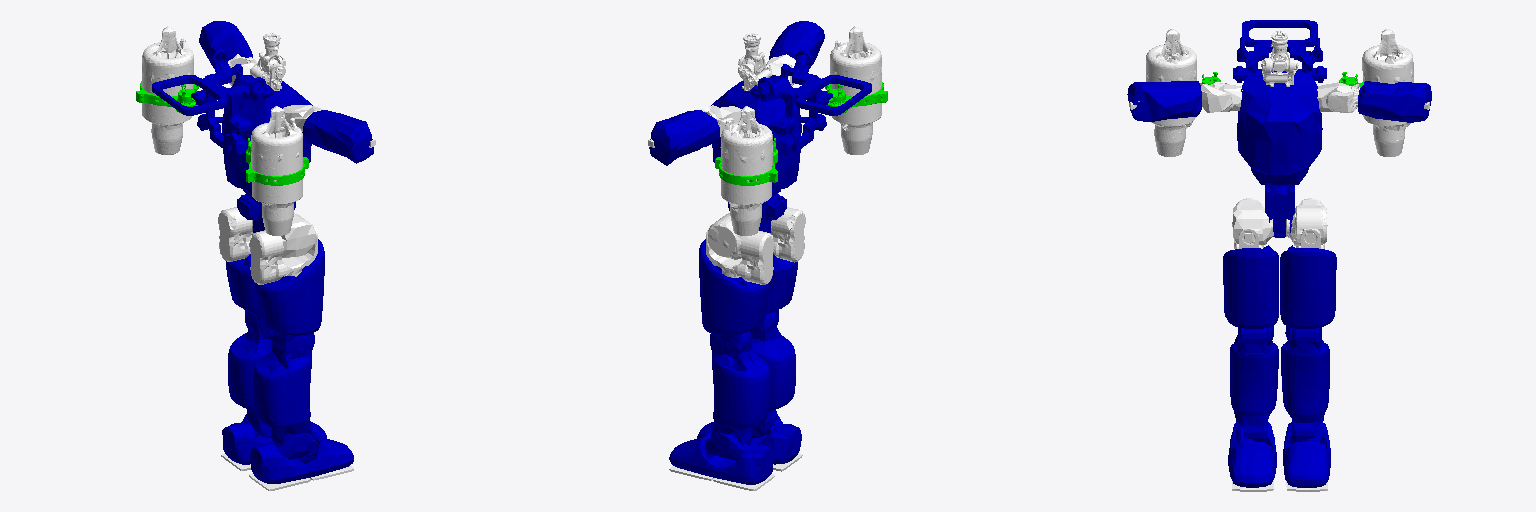
--- Render facts (derived) ---
3 views of the same robot in one strip: view 1: azimuth 30°, elevation 25°; view 2: azimuth 150°, elevation 25°; view 3: azimuth 270°, elevation 25° (orthographic).
Model iCub with 64 links and 63 joints (26 revolute, 37 fixed), rooted at root_link, posed all joints at 0 but 2 set to mid-range because 0 is outside their limits (l_shoulder_roll = 1.53, r_shoulder_roll = 1.53).
Visible links, largest first — view 1: r_lower_leg, chest_r_jet_turbine, chest_jetpack, r_hip_3, chest_l_jet_turbine, r_ankle_2, l_lower_leg, chest, r_upper_arm, r_hip_2, l_hip_2, l_upper_arm (+8 smaller); view 2: l_lower_leg, chest_l_jet_turbine, chest_jetpack, l_hip_3, chest_r_jet_turbine, l_ankle_2, r_lower_leg, chest, l_upper_arm, l_hip_2, r_hip_2, r_upper_arm (+7 smaller); view 3: chest, r_lower_leg, l_lower_leg, l_hip_3, r_hip_3, chest_l_jet_turbine, chest_r_jet_turbine, chest_jetpack, r_upper_arm, l_upper_arm, l_ankle_2, r_ankle_2 (+7 smaller).
Link boxes in pixels (bbox=[...]): r_lower_leg: bbox=[253, 331, 312, 445]; chest_r_jet_turbine: bbox=[251, 106, 302, 235]; chest_jetpack: bbox=[152, 49, 273, 154]; r_hip_3: bbox=[254, 239, 324, 335]; chest_l_jet_turbine: bbox=[142, 26, 193, 154]; r_ankle_2: bbox=[250, 431, 353, 483]; l_lower_leg: bbox=[228, 311, 271, 437]; chest: bbox=[222, 75, 312, 188]; r_upper_arm: bbox=[302, 110, 373, 163]; r_hip_2: bbox=[249, 224, 317, 284]; l_hip_2: bbox=[218, 207, 252, 261]; l_upper_arm: bbox=[199, 21, 252, 68]; l_lower_leg: bbox=[711, 331, 770, 445]; chest_l_jet_turbine: bbox=[720, 106, 772, 235]; chest_jetpack: bbox=[750, 49, 871, 154]; l_hip_3: bbox=[699, 239, 769, 335]; chest_r_jet_turbine: bbox=[830, 26, 881, 154]; l_ankle_2: bbox=[669, 432, 773, 484]; r_lower_leg: bbox=[752, 311, 795, 437]; chest: bbox=[711, 75, 801, 188]; l_upper_arm: bbox=[649, 110, 719, 165]; l_hip_2: bbox=[706, 225, 774, 284]; r_hip_2: bbox=[771, 207, 805, 262]; r_upper_arm: bbox=[769, 21, 824, 68]; chest: bbox=[1237, 69, 1322, 174]; r_lower_leg: bbox=[1230, 327, 1278, 443]; l_lower_leg: bbox=[1281, 327, 1329, 443]; l_hip_3: bbox=[1280, 245, 1336, 328]; r_hip_3: bbox=[1223, 245, 1278, 328]; chest_l_jet_turbine: bbox=[1362, 29, 1413, 156]; chest_r_jet_turbine: bbox=[1146, 29, 1196, 156]; chest_jetpack: bbox=[1233, 20, 1326, 82]; r_upper_arm: bbox=[1127, 81, 1201, 121]; l_upper_arm: bbox=[1358, 81, 1431, 122]; l_ankle_2: bbox=[1283, 422, 1330, 487]; r_ankle_2: bbox=[1228, 422, 1276, 487].
Size in the robot's own frame: 0.4587 by 0.727 by 1.13 metres.
40 mesh visuals loaded from 43 distinct referenced files (40 ASCII STL); not drawn: 3 (reference not matched to a file when rendering), 4 (reference in a form the renderer does not follow; not among the files counted above).

The robot description file, URDF, robot "iCub":
<robot name="iCub">
  <link name="root_link">
    <inertial>
      <origin xyz="0.0035506 -0.00014959200000000001 0.024519000000000013" rpy="0 0 -1.5707963267948966"/>
      <mass value="2.5751"/>
      <inertia ixx="0.004051489764137304" ixy="-2.0525354991945143e-06" ixz="-1.200186769383287e-05" iyy="0.004466379288694287" iyz="0.00011702292411912923" izz="0.002537512875376926"/>
    </inertial>
    <visual>
      <origin xyz="0 0 0.313858" rpy="0 0 -1.5707963267948966"/>
      <geometry>
        <mesh filename="package://iRonCub-Mk3/iRonCub/meshes/stl/sim_icub3_root_link_prt.stl" scale="0.001 0.001 0.001"/>
      </geometry>
      <material name="green">
        <color rgba="0 0 0.8 1"/>
      </material>
    </visual>
    <collision>
      <origin xyz="0 0 0.313858" rpy="0 0 -1.5707963267948966"/>
      <geometry>
        <mesh filename="package://iRonCub-Mk3/iRonCub/meshes/stl/sim_icub3_root_link_prt.stl" scale="0.001 0.001 0.001"/>
      </geometry>
    </collision>
  </link>
  <link name="l_hip_1">
    <inertial>
      <origin xyz="-0.004074100000000001 0.028123299999999997 -0.0007250000000000312" rpy="0 0 -1.5707963267948966"/>
      <mass value="2.1611"/>
      <inertia ixx="0.002595352643142238" ixy="-6.263538591577025e-05" ixz="2.7731363927618977e-06" iyy="0.0021193350821535318" iyz="-1.2725390435109447e-05" izz="0.0023619854835245473"/>
    </inertial>
    <visual>
      <origin xyz="-0.021600000000000064 -0.04044999999999981 0.31385800000000025" rpy="0 0 -1.5707963267948966"/>
      <geometry>
        <mesh filename="package://iRonCub-Mk3/iRonCub/meshes/stl/sim_icub3_l_hip_1_prt.stl" scale="0.001 0.001 0.001"/>
      </geometry>
      <material name="black">
        <color rgba="1 1 1 1"/>
      </material>
    </visual>
    <collision>
      <origin xyz="-0.021600000000000064 -0.04044999999999981 0.31385800000000025" rpy="0 0 -1.5707963267948966"/>
      <geometry>
        <mesh filename="package://iRonCub-Mk3/iRonCub/meshes/stl/sim_icub3_l_hip_1_prt.stl" scale="0.001 0.001 0.001"/>
      </geometry>
    </collision>
  </link>
  <joint name="l_hip_pitch" type="revolute">
    <origin xyz="0.0216 0.04045000000000001 0" rpy="0 0 0"/>
    <axis xyz="0.0 -1.0 0.0"/>
    <parent link="root_link"/>
    <child link="l_hip_1"/>
    <limit effort="50000" lower="-0.7853981633974483" upper="2.007128639793479" velocity="120.0"/>
    <dynamics damping="2.0" friction="0.0"/>
  </joint>
  <link name="l_hip_2">
    <inertial>
      <origin xyz="-0.003963800000000003 5.489999999999662e-05 -0.037538000000000016" rpy="0 0 -1.5707963267948966"/>
      <mass value="1.7731"/>
      <inertia ixx="0.005228411714595798" ixy="-4.083551966339624e-06" ixz="3.1651054869901453e-06" iyy="0.0029657585348029296" iyz="0.0009461829267401466" izz="0.0032766682222500967"/>
    </inertial>
    <visual>
      <origin xyz="0.025649999999999822 -0.07354999999999978 0.3228580000000002" rpy="0 0 -1.5707963267948966"/>
      <geometry>
        <mesh filename="package://iRonCub-Mk3/iRonCub/meshes/stl/sim_icub3_l_hip_2_prt.stl" scale="0.001 0.001 0.001"/>
      </geometry>
      <material name="red">
        <color rgba="1 1 1 1"/>
      </material>
    </visual>
    <collision>
      <origin xyz="0.025649999999999822 -0.07354999999999978 0.3228580000000002" rpy="0 0 -1.5707963267948966"/>
      <geometry>
        <mesh filename="package://iRonCub-Mk3/iRonCub/meshes/stl/sim_icub3_l_hip_2_prt.stl" scale="0.001 0.001 0.001"/>
      </geometry>
    </collision>
  </link>
  <joint name="l_hip_roll" type="revolute">
    <origin xyz="-0.04725 0.0331 -0.009000000000000008" rpy="0 0 0"/>
    <axis xyz="1.0 0.0 0.0"/>
    <parent link="l_hip_1"/>
    <child link="l_hip_2"/>
    <limit effort="50000" lower="-0.17453292519943295" upper="1.9547687622336491" velocity="120.0"/>
    <dynamics damping="2.0" friction="0.0"/>
  </joint>
  <link name="l_hip_3">
    <inertial>
      <origin xyz="0.0024416999999999998 -0.012306900000000003 -0.03819900000000004" rpy="0 0 -1.5707963267948966"/>
      <mass value="2.43975"/>
      <inertia ixx="0.0044412883972056874" ixy="3.3190647191151945e-06" ixz="-0.0001500433647365573" iyy="0.004161531735667295" iyz="1.0495343014441162e-05" izz="0.004168493190874654"/>
    </inertial>
    <visual>
      <origin xyz="-0.011050000000000178 -0.07354999999999977 0.41255800000000004" rpy="0 0 -1.5707963267948966"/>
      <geometry>
        <mesh filename="package://iRonCub-Mk3/iRonCub/meshes/stl/sim_icub3_l_hip_3_prt.stl" scale="0.001 0.001 0.001"/>
      </geometry>
      <material name="blue">
        <color rgba="0 0 0.8 1"/>
      </material>
    </visual>
    <collision>
      <origin xyz="-0.011050000000000178 -0.07354999999999977 0.41255800000000004" rpy="0 0 -1.5707963267948966"/>
      <geometry>
        <mesh filename="package://iRonCub-Mk3/iRonCub/meshes/stl/sim_icub3_l_hip_3_prt.stl" scale="0.001 0.001 0.001"/>
      </geometry>
    </collision>
  </link>
  <joint name="l_leg_ft_sensor" type="fixed">
    <origin xyz="0.036699999999999997 0 -0.08969999999999995" rpy="0 0 0"/>
    <parent link="l_hip_2"/>
    <child link="l_hip_3"/>
    <dynamics damping="0.1"/>
  </joint>
  <link name="l_upper_leg">
    <inertial>
      <origin xyz="0.005238099999999999 0.001499300000000009 -0.0518519999999999" rpy="0 0 -1.5707963267948966"/>
      <mass value="0.90926"/>
      <inertia ixx="0.0018580448030305287" ixy="2.4769869343548534e-05" ixz="-9.921040799831542e-05" iyy="0.0023253336863419895" iyz="0.00021961146368491691" izz="0.0010116953240355718"/>
    </inertial>
    <visual>
      <origin xyz="-0.011050000000000167 -0.05854999999999983 0.48345800000000017" rpy="0 0 -1.5707963267948966"/>
      <geometry>
        <mesh filename="package://iRonCub-Mk3/iRonCub/meshes/stl/sim_icub3_l_upper_leg_prt.stl" scale="0.001 0.001 0.001"/>
      </geometry>
      <material name="yellow">
        <color rgba="0 0 0.8 1"/>
      </material>
    </visual>
    <collision>
      <origin xyz="-0.011050000000000167 -0.05854999999999983 0.48345800000000017" rpy="0 0 -1.5707963267948966"/>
      <geometry>
        <mesh filename="package://iRonCub-Mk3/iRonCub/meshes/stl/sim_icub3_l_upper_leg_prt.stl" scale="0.001 0.001 0.001"/>
      </geometry>
    </collision>
  </link>
  <joint name="l_hip_yaw" type="revolute">
    <origin xyz="0 -0.015000000000000006 -0.07090000000000007" rpy="0 0 0"/>
    <axis xyz="0.0 0.0 1.0"/>
    <parent link="l_hip_3"/>
    <child link="l_upper_leg"/>
    <limit effort="50000" lower="-1.3962634015954636" upper="1.3962634015954636" velocity="120.0"/>
    <dynamics damping="2.0" friction="0.0"/>
  </joint>
  <link name="l_lower_leg">
    <inertial>
      <origin xyz="-0.0132211 -0.022063200000000005 -0.12639599999999995" rpy="0 0 -1.5707963267948966"/>
      <mass value="5.3241"/>
      <inertia ixx="0.05824701558729114" ixy="0.00010624602688798144" ixz="0.00032177799357201414" iyy="0.055706072617469723" iyz="-0.00018962183345080946" izz="0.006070627555679843"/>
    </inertial>
    <visual>
      <origin xyz="-0.026050000000000243 -0.08344999999999969 0.5896580000000001" rpy="0 0 -1.5707963267948966"/>
      <geometry>
        <mesh filename="package://iRonCub-Mk3/iRonCub/meshes/stl/sim_icub3_l_lower_leg_prt.stl" scale="0.001 0.001 0.001"/>
      </geometry>
      <material name="pink">
        <color rgba="0 0 0.8 1"/>
      </material>
    </visual>
    <collision>
      <origin xyz="-0.026050000000000243 -0.08344999999999969 0.5896580000000001" rpy="0 0 -1.5707963267948966"/>
      <geometry>
        <mesh filename="package://iRonCub-Mk3/iRonCub/meshes/stl/sim_icub3_l_lower_leg_prt.stl" scale="0.001 0.001 0.001"/>
      </geometry>
    </collision>
  </link>
  <joint name="l_knee" type="revolute">
    <origin xyz="0.015 0.024900000000000012 -0.10619999999999996" rpy="0 0 0"/>
    <axis xyz="0.0 -1.0 0.0"/>
    <parent link="l_upper_leg"/>
    <child link="l_lower_leg"/>
    <limit effort="50000" lower="-1.2217304763960306" upper="0.08726646259971647" velocity="120.0"/>
    <dynamics damping="2.0" friction="0.0"/>
  </joint>
  <link name="l_ankle_1">
    <inertial>
      <origin xyz="-0.0056708999999999996 -0.0004776000000000086 -0.015197000000000016" rpy="0 0 -1.5707963267948966"/>
      <mass value="0.36569"/>
      <inertia ixx="0.0006919069701304677" ixy="3.642221266176245e-05" ixz="6.0306968718434186e-05" iyy="0.00029801214087017225" iyz="-2.6804257582408287e-05" izz="0.0005496547611177806"/>
    </inertial>
    <visual>
      <origin xyz="-0.026050000000000052 -0.08295000000000005 0.8456470000000003" rpy="0 0 -1.5707963267948966"/>
      <geometry>
        <mesh filename="package://iRonCub-Mk3/iRonCub/meshes/stl/sim_icub3_l_ankle_1_prt.stl" scale="0.001 0.001 0.001"/>
      </geometry>
      <material name="cyan">
        <color rgba="0 0 0.8 1"/>
      </material>
    </visual>
    <collision>
      <origin xyz="-0.026050000000000052 -0.08295000000000005 0.8456470000000003" rpy="0 0 -1.5707963267948966"/>
      <geometry>
        <mesh filename="package://iRonCub-Mk3/iRonCub/meshes/stl/sim_icub3_l_ankle_1_prt.stl" scale="0.001 0.001 0.001"/>
      </geometry>
    </collision>
  </link>
  <joint name="l_ankle_pitch" type="revolute">
    <origin xyz="0 -0.0005000000000000004 -0.255989" rpy="0 0 0"/>
    <axis xyz="0.0 1.0 0.0"/>
    <parent link="l_lower_leg"/>
    <child link="l_ankle_1"/>
    <limit effort="50000" lower="-0.7853981633974483" upper="0.7853981633974483" velocity="120.0"/>
    <dynamics damping="2.0" friction="0.0"/>
  </joint>
  <link name="l_ankle_2">
    <inertial>
      <origin xyz="0.0417048 -5.500000000001337e-05 -0.02565099999999998" rpy="0 0 -1.5707963267948966"/>
      <mass value="1.53465"/>
      <inertia ixx="0.008276628548706496" ixy="5.786254688421673e-06" ixz="-4.092109028187411e-06" iyy="0.0017004608262408357" iyz="0.0012330199976826493" izz="0.008063087568467178"/>
    </inertial>
    <visual>
      <origin xyz="0.026699999999999342 -0.0647500000000001 0.8806470000000008" rpy="0 0 -1.5707963267948966"/>
      <geometry>
        <mesh filename="package://iRonCub-Mk3/iRonCub/meshes/stl/sim_icub3_l_ankle_2_prt.stl" scale="0.001 0.001 0.001"/>
      </geometry>
      <material name="green">
        <color rgba="0 0 0.8 1"/>
      </material>
    </visual>
    <collision>
      <origin xyz="0.026699999999999342 -0.0647500000000001 0.8806470000000008" rpy="0 0 -1.5707963267948966"/>
      <geometry>
        <mesh filename="package://iRonCub-Mk3/iRonCub/meshes/stl/sim_icub3_l_ankle_2_prt.stl" scale="0.001 0.001 0.001"/>
      </geometry>
    </collision>
  </link>
  <joint name="l_ankle_roll" type="revolute">
    <origin xyz="-0.052750000000000005 -0.018200000000000008 -0.03500000000000003" rpy="0 0 0"/>
    <axis xyz="1.0 0.0 0.0"/>
    <parent link="l_ankle_1"/>
    <child link="l_ankle_2"/>
    <limit effort="50000" lower="-0.4363323129985824" upper="0.4363323129985824" velocity="120.0"/>
    <dynamics damping="2.0" friction="0.0"/>
  </joint>
  <link name="l_foot_rear">
    <inertial>
      <origin xyz="0.0005056000000000001 3.350000000000575e-05 0.003658999999999968" rpy="0 0 -1.5707963267948966"/>
      <mass value="0.17851"/>
      <inertia ixx="0.00028386984946481193" ixy="-3.8140209422126887e-07" ixz="3.3779281136245455e-06" iyy="0.00022675202580603227" iyz="8.141588837428499e-06" izz="0.00036516477016163983"/>
    </inertial>
    <visual>
      <origin xyz="0.010699999999999342 -0.06475000000000009 0.9464470000000004" rpy="0 0 -1.5707963267948966"/>
      <geometry>
        <mesh filename="package://iRonCub-Mk3/iRonCub/meshes/stl/sim_icub3_l_foot_rear_prt.stl" scale="0.001 0.001 0.001"/>
      </geometry>
      <material name="l_foot_rear_color">
        <color rgba="1.0 1.0 1.0 1.0"/>
      </material>
    </visual>
    <collision>
      <origin xyz="0.010699999999999342 -0.06475000000000009 0.9464470000000004" rpy="0 0 -1.5707963267948966"/>
      <geometry>
        <mesh filename="package://iRonCub-Mk3/iRonCub/meshes/stl/sim_icub3_l_foot_rear_prt.stl" scale="0.001 0.001 0.001"/>
      </geometry>
    </collision>
  </link>
  <joint name="l_foot_rear_ft_sensor" type="fixed">
    <origin xyz="0.016 0 -0.06579999999999997" rpy="0 0 0"/>
    <parent link="l_ankle_2"/>
    <child link="l_foot_rear"/>
    <dynamics damping="0.1"/>
  </joint>
  <link name="l_sole"/>
  <joint name="l_sole_fixed_joint" type="fixed">
    <origin xyz="0.05963 0 0" rpy="0 0 0"/>
    <parent link="l_foot_rear"/>
    <child link="l_sole"/>
    <dynamics damping="0.1"/>
  </joint>
  <link name="l_sole_3"/>
  <joint name="l_sole_3_fixed_joint" type="fixed">
    <origin xyz="-0.035 -0.02475 0" rpy="0 0 0"/>
    <parent link="l_foot_rear"/>
    <child link="l_sole_3"/>
    <dynamics damping="0.1"/>
  </joint>
  <link name="l_sole_4"/>
  <joint name="l_sole_4_fixed_joint" type="fixed">
    <origin xyz="-0.035 0.03025 0" rpy="0 0 0"/>
    <parent link="l_foot_rear"/>
    <child link="l_sole_4"/>
    <dynamics damping="0.1"/>
  </joint>
  <link name="l_foot_front">
    <inertial>
      <origin xyz="7.700000000000762e-05 -3.990000000000937e-05 0.004256999999999955" rpy="0 0 -1.5707963267948966"/>
      <mass value="0.17896"/>
      <inertia ixx="0.00032486721722121964" ixy="3.5467003209527003e-07" ixz="2.7144049104682455e-07" iyy="0.00025600096782908466" iyz="3.4960507170104935e-05" izz="0.00037767895393194076"/>
    </inertial>
    <visual>
      <origin xyz="-0.10855000000000063 -0.06475000000000009 0.9464470000000004" rpy="0 0 -1.5707963267948966"/>
      <geometry>
        <mesh filename="package://iRonCub-Mk3/iRonCub/meshes/stl/sim_icub3_l_foot_front_prt.stl" scale="0.001 0.001 0.001"/>
      </geometry>
      <material name="l_foot_front_color">
        <color rgba="1.0 1.0 1.0 1.0"/>
      </material>
    </visual>
    <collision>
      <origin xyz="-0.10855000000000063 -0.06475000000000009 0.9464470000000004" rpy="0 0 -1.5707963267948966"/>
      <geometry>
        <mesh filename="package://iRonCub-Mk3/iRonCub/meshes/stl/sim_icub3_l_foot_front_prt.stl" scale="0.001 0.001 0.001"/>
      </geometry>
    </collision>
  </link>
  <joint name="l_foot_front_ft_sensor" type="fixed">
    <origin xyz="0.13524999999999998 0 -0.06579999999999997" rpy="0 0 0"/>
    <parent link="l_ankle_2"/>
    <child link="l_foot_front"/>
    <dynamics damping="0.1"/>
  </joint>
  <link name="l_sole_1"/>
  <joint name="l_sole_1_fixed_joint" type="fixed">
    <origin xyz="0.02500000000000001 0.025249999999999995 0" rpy="0 0 0"/>
    <parent link="l_foot_front"/>
    <child link="l_sole_1"/>
    <dynamics damping="0.1"/>
  </joint>
  <link name="l_sole_2"/>
  <joint name="l_sole_2_fixed_joint" type="fixed">
    <origin xyz="0.02500000000000001 -0.02475 0" rpy="0 0 0"/>
    <parent link="l_foot_front"/>
    <child link="l_sole_2"/>
    <dynamics damping="0.1"/>
  </joint>
  <link name="r_hip_1">
    <inertial>
      <origin xyz="-0.004106499999999999 -0.02810980000000001 -0.0008360000000000034" rpy="0 0 -1.5707963267948966"/>
      <mass value="2.1623"/>
      <inertia ixx="0.002675989970439473" ixy="6.426984653122192e-05" ixz="-6.447456052305588e-06" iyy="0.0021990073364667796" iyz="-1.5695577440979572e-05" izz="0.002366627191660443"/>
    </inertial>
    <visual>
      <origin xyz="-0.0216 0.04054999999999986 0.313858" rpy="0 0 -1.5707963267948966"/>
      <geometry>
        <mesh filename="package://iRonCub-Mk3/iRonCub/meshes/stl/sim_icub3_r_hip_1_prt.stl" scale="0.001 0.001 0.001"/>
      </geometry>
      <material name="white">
        <color rgba="1 1 1 1"/>
      </material>
    </visual>
    <collision>
      <origin xyz="-0.0216 0.04054999999999986 0.313858" rpy="0 0 -1.5707963267948966"/>
      <geometry>
        <mesh filename="package://iRonCub-Mk3/iRonCub/meshes/stl/sim_icub3_r_hip_1_prt.stl" scale="0.001 0.001 0.001"/>
      </geometry>
    </collision>
  </link>
  <joint name="r_hip_pitch" type="revolute">
    <origin xyz="0.0216 -0.040549999999999996 0" rpy="0 0 0"/>
    <axis xyz="0.0 -1.0 0.0"/>
    <parent link="root_link"/>
    <child link="r_hip_1"/>
    <limit effort="50000" lower="-0.7853981633974483" upper="2.007128639793479" velocity="120.0"/>
    <dynamics damping="2.0" friction="0.0"/>
  </joint>
  <link name="r_hip_2">
    <inertial>
      <origin xyz="-0.003963499999999998 -7.010000000000349e-05 -0.03753499999999993" rpy="0 0 -1.5707963267948966"/>
      <mass value="1.7731"/>
      <inertia ixx="0.005229204654206729" ixy="4.628243459077994e-06" ixz="-3.2636330686460046e-06" iyy="0.0029659325947175245" iyz="0.0009467254134739666" izz="0.00327641680237346"/>
    </inertial>
    <visual>
      <origin xyz="0.025699999999999973 0.07364999999999984 0.3228580000000001" rpy="0 0 -1.5707963267948966"/>
      <geometry>
        <mesh filename="package://iRonCub-Mk3/iRonCub/meshes/stl/sim_icub3_r_hip_2_prt.stl" scale="0.001 0.001 0.001"/>
      </geometry>
      <material name="dblue">
        <color rgba="1 1 1 1"/>
      </material>
    </visual>
    <collision>
      <origin xyz="0.025699999999999973 0.07364999999999984 0.3228580000000001" rpy="0 0 -1.5707963267948966"/>
      <geometry>
        <mesh filename="package://iRonCub-Mk3/iRonCub/meshes/stl/sim_icub3_r_hip_2_prt.stl" scale="0.001 0.001 0.001"/>
      </geometry>
    </collision>
  </link>
  <joint name="r_hip_roll" type="revolute">
    <origin xyz="-0.0473 -0.03310000000000001 -0.009000000000000008" rpy="0 0 0"/>
    <axis xyz="-1.0 0.0 0.0"/>
    <parent link="r_hip_1"/>
    <child link="r_hip_2"/>
    <limit effort="50000" lower="-0.17453292519943295" upper="1.9547687622336491" velocity="120.0"/>
    <dynamics damping="2.0" friction="0.0"/>
  </joint>
  <link name="r_hip_3">
    <inertial>
      <origin xyz="0.0024329000000000017 0.01233370000000001 -0.038242000000000054" rpy="0 0 -1.5707963267948966"/>
      <mass value="2.43975"/>
      <inertia ixx="0.004485784047483899" ixy="-2.3350782161357655e-06" ixz="0.0001440226606671166" iyy="0.00420681558758196" iyz="1.1762844743205253e-05" izz="0.0041711798557694454"/>
    </inertial>
    <visual>
      <origin xyz="-0.011000000000000029 0.07364999999999984 0.41255800000000004" rpy="0 0 -1.5707963267948966"/>
      <geometry>
        <mesh filename="package://iRonCub-Mk3/iRonCub/meshes/stl/sim_icub3_r_hip_3_prt.stl" scale="0.001 0.001 0.001"/>
      </geometry>
      <material name="dgreen">
        <color rgba="0 0 0.8 1"/>
      </material>
    </visual>
    <collision>
      <origin xyz="-0.011000000000000029 0.07364999999999984 0.41255800000000004" rpy="0 0 -1.5707963267948966"/>
      <geometry>
        <mesh filename="package://iRonCub-Mk3/iRonCub/meshes/stl/sim_icub3_r_hip_3_prt.stl" scale="0.001 0.001 0.001"/>
      </geometry>
    </collision>
  </link>
  <joint name="r_leg_ft_sensor" type="fixed">
    <origin xyz="0.036699999999999997 0 -0.08969999999999995" rpy="0 0 0"/>
    <parent link="r_hip_2"/>
    <child link="r_hip_3"/>
    <dynamics damping="0.1"/>
  </joint>
  <link name="r_upper_leg">
    <inertial>
      <origin xyz="0.005240300000000003 -0.0014998000000000025 -0.05185799999999996" rpy="0 0 -1.5707963267948966"/>
      <mass value="0.90926"/>
      <inertia ixx="0.0018609457769770859" ixy="-2.472258346821965e-05" ixz="9.915722347596187e-05" iyy="0.0023282830098543227" iyz="0.00022002726995059012" izz="0.001011608294817175"/>
    </inertial>
    <visual>
      <origin xyz="-0.011000000000000012 0.05864999999999984 0.48345800000000005" rpy="0 0 -1.5707963267948966"/>
      <geometry>
        <mesh filename="package://iRonCub-Mk3/iRonCub/meshes/stl/sim_icub3_r_upper_leg_prt.stl" scale="0.001 0.001 0.001"/>
      </geometry>
      <material name="gray">
        <color rgba="0 0 0.8 1"/>
      </material>
    </visual>
    <collision>
      <origin xyz="-0.011000000000000012 0.05864999999999984 0.48345800000000005" rpy="0 0 -1.5707963267948966"/>
      <geometry>
        <mesh filename="package://iRonCub-Mk3/iRonCub/meshes/stl/sim_icub3_r_upper_leg_prt.stl" scale="0.001 0.001 0.001"/>
      </geometry>
    </collision>
  </link>
  <joint name="r_hip_yaw" type="revolute">
    <origin xyz="0 0.015000000000000006 -0.07090000000000007" rpy="0 0 0"/>
    <axis xyz="0.0 0.0 -1.0"/>
    <parent link="r_hip_3"/>
    <child link="r_upper_leg"/>
    <limit effort="50000" lower="-1.3962634015954636" upper="1.3962634015954636" velocity="120.0"/>
    <dynamics damping="2.0" friction="0.0"/>
  </joint>
  <link name="r_lower_leg">
    <inertial>
      <origin xyz="-0.013102400000000002 0.021986699999999998 -0.127262" rpy="0 0 -1.5707963267948966"/>
      <mass value="5.3241"/>
      <inertia ixx="0.058569724854460666" ixy="-0.00011067195586576853" ixz="-0.0002647293063069585" iyy="0.05601996956627755" iyz="-0.00013332765738821662" izz="0.006068235025831327"/>
    </inertial>
    <visual>
      <origin xyz="-0.026000000000000037 0.0835499999999998 0.589658" rpy="0 0 -1.5707963267948966"/>
      <geometry>
        <mesh filename="package://iRonCub-Mk3/iRonCub/meshes/stl/sim_icub3_r_lower_leg_prt.stl" scale="0.001 0.001 0.001"/>
      </geometry>
      <material name="green">
        <color rgba="0 0 0.8 1"/>
      </material>
    </visual>
    <collision>
      <origin xyz="-0.026000000000000037 0.0835499999999998 0.589658" rpy="0 0 -1.5707963267948966"/>
      <geometry>
        <mesh filename="package://iRonCub-Mk3/iRonCub/meshes/stl/sim_icub3_r_lower_leg_prt.stl" scale="0.001 0.001 0.001"/>
      </geometry>
    </collision>
  </link>
  <joint name="r_knee" type="revolute">
    <origin xyz="0.015000000000000003 -0.0249 -0.10619999999999996" rpy="0 0 0"/>
    <axis xyz="0.0 -1.0 0.0"/>
    <parent link="r_upper_leg"/>
    <child link="r_lower_leg"/>
    <limit effort="50000" lower="-1.2217304763960306" upper="0.08726646259971647" velocity="120.0"/>
    <dynamics damping="2.0" friction="0.0"/>
  </joint>
  <link name="r_ankle_1">
    <inertial>
      <origin xyz="-0.005665800000000002 0.0004764000000000018 -0.015185999999999922" rpy="0 0 -1.5707963267948966"/>
      <mass value="0.36569"/>
      <inertia ixx="0.0007008795637504032" ixy="-3.63258049040399e-05" ixz="-6.07134864852001e-05" iyy="0.00030702728154466944" iyz="-2.6127082529919777e-05" izz="0.0005495280869326084"/>
    </inertial>
    <visual>
      <origin xyz="-0.026000000000000245 0.08304999999999924 0.8456470000000003" rpy="0 0 -1.5707963267948966"/>
      <geometry>
        <mesh filename="package://iRonCub-Mk3/iRonCub/meshes/stl/sim_icub3_r_ankle_1_prt.stl" scale="0.001 0.001 0.001"/>
      </geometry>
      <material name="black">
        <color rgba="0 0 0.8 1"/>
      </material>
    </visual>
    <collision>
      <origin xyz="-0.026000000000000245 0.08304999999999924 0.8456470000000003" rpy="0 0 -1.5707963267948966"/>
      <geometry>
        <mesh filename="package://iRonCub-Mk3/iRonCub/meshes/stl/sim_icub3_r_ankle_1_prt.stl" scale="0.001 0.001 0.001"/>
      </geometry>
    </collision>
  </link>
  <joint name="r_ankle_pitch" type="revolute">
    <origin xyz="0 0.0005000000000000004 -0.255989" rpy="0 0 0"/>
    <axis xyz="0.0 1.0 0.0"/>
    <parent link="r_lower_leg"/>
    <child link="r_ankle_1"/>
    <limit effort="50000" lower="-0.7853981633974483" upper="0.7853981633974483" velocity="120.0"/>
    <dynamics damping="2.0" friction="0.0"/>
  </joint>
  <link name="r_ankle_2">
    <inertial>
      <origin xyz="0.0417371 5.619999999997849e-05 -0.025592999999999977" rpy="0 0 -1.5707963267948966"/>
      <mass value="1.53465"/>
      <inertia ixx="0.008359137510182012" ixy="-6.658498141958317e-06" ixz="1.6236202151564518e-06" iyy="0.001778865481574069" iyz="0.001241649614839054" izz="0.008067236320993203"/>
    </inertial>
    <visual>
      <origin xyz="0.026749999999999875 0.0648499999999391 0.8806470000000108" rpy="0 0 -1.5707963267948966"/>
      <geometry>
        <mesh filename="package://iRonCub-Mk3/iRonCub/meshes/stl/sim_icub3_r_ankle_2_prt.stl" scale="0.001 0.001 0.001"/>
      </geometry>
      <material name="red">
        <color rgba="0 0 0.8 1"/>
      </material>
    </visual>
    <collision>
      <origin xyz="0.026749999999999875 0.0648499999999391 0.8806470000000108" rpy="0 0 -1.5707963267948966"/>
      <geometry>
        <mesh filename="package://iRonCub-Mk3/iRonCub/meshes/stl/sim_icub3_r_ankle_2_prt.stl" scale="0.001 0.001 0.001"/>
      </geometry>
    </collision>
  </link>
  <joint name="r_ankle_roll" type="revolute">
    <origin xyz="-0.052750000000000005 0.018200000000000008 -0.03500000000000003" rpy="0 0 0"/>
    <axis xyz="-1.0 0.0 0.0"/>
    <parent link="r_ankle_1"/>
    <child link="r_ankle_2"/>
    <limit effort="50000" lower="-0.4363323129985824" upper="0.4363323129985824" velocity="120.0"/>
    <dynamics damping="2.0" friction="0.0"/>
  </joint>
  <link name="r_foot_front">
    <inertial>
      <origin xyz="-0.0004180000000000017 0.0004849999999999993 0.005581000000000058" rpy="0 0 -1.5707963267948966"/>
      <mass value="0.17964"/>
      <inertia ixx="0.0004475629748133475" ixy="-1.1622018441861841e-05" ixz="2.9686391650024495e-05" iyy="0.0003761336092973683" iyz="7.056362242091155e-05" izz="0.00040019707061844293"/>
    </inertial>
    <visual>
      <origin xyz="-0.10850000000000012 0.0648499999999391 0.9464470000000105" rpy="0 0 -1.5707963267948966"/>
      <geometry>
        <mesh filename="package://iRonCub-Mk3/iRonCub/meshes/stl/sim_icub3_r_foot_front_prt.stl" scale="0.001 0.001 0.001"/>
      </geometry>
      <material name="r_foot_front_color">
        <color rgba="1.0 1.0 1.0 1.0"/>
      </material>
    </visual>
    <collision>
      <origin xyz="-0.10850000000000012 0.0648499999999391 0.9464470000000105" rpy="0 0 -1.5707963267948966"/>
      <geometry>
        <mesh filename="package://iRonCub-Mk3/iRonCub/meshes/stl/sim_icub3_r_foot_front_prt.stl" scale="0.001 0.001 0.001"/>
      </geometry>
    </collision>
  </link>
  <joint name="r_foot_front_ft_sensor" type="fixed">
    <origin xyz="0.13525 0 -0.06579999999999997" rpy="0 0 0"/>
    <parent link="r_ankle_2"/>
    <child link="r_foot_front"/>
    <dynamics damping="0.1"/>
  </joint>
  <link name="r_sole_1"/>
  <joint name="r_sole_1_fixed_joint" type="fixed">
    <origin xyz="0.02500000000000001 -0.025150000000000006 0" rpy="0 0 0"/>
    <parent link="r_foot_front"/>
    <child link="r_sole_1"/>
    <dynamics damping="0.1"/>
  </joint>
  <link name="r_sole_2"/>
  <joint name="r_sole_2_fixed_joint" type="fixed">
    <origin xyz="0.02500000000000001 0.02484999999999999 0" rpy="0 0 0"/>
    <parent link="r_foot_front"/>
    <child link="r_sole_2"/>
    <dynamics damping="0.1"/>
  </joint>
  <link name="r_foot_rear">
    <inertial>
      <origin xyz="0.0006180999999999999 7.079999999998199e-05 0.003514000000000017" rpy="0 0 -1.5707963267948966"/>
      <mass value="0.17874"/>
      <inertia ixx="0.00023837060598027492" ixy="1.5972601165325875e-07" ixz="2.851962872955676e-06" iyy="0.00018229756818021977" iyz="-1.2898142814635283e-06" izz="0.0003645245458529223"/>
    </inertial>
    <visual>
      <origin xyz="0.010749999999999876 0.0648499999999391 0.9464470000000105" rpy="0 0 -1.5707963267948966"/>
      <geometry>
        <mesh filename="package://iRonCub-Mk3/iRonCub/meshes/stl/sim_icub3_r_foot_rear_prt.stl" scale="0.001 0.001 0.001"/>
      </geometry>
      <material name="r_foot_rear_color">
        <color rgba="1.0 1.0 1.0 1.0"/>
      </material>
    </visual>
    <collision>
      <origin xyz="0.010749999999999876 0.0648499999999391 0.9464470000000105" rpy="0 0 -1.5707963267948966"/>
      <geometry>
        <mesh filename="package://iRonCub-Mk3/iRonCub/meshes/stl/sim_icub3_r_foot_rear_prt.stl" scale="0.001 0.001 0.001"/>
      </geometry>
    </collision>
  </link>
  <joint name="r_foot_rear_ft_sensor" type="fixed">
    <origin xyz="0.016 0 -0.06579999999999997" rpy="0 0 0"/>
    <parent link="r_ankle_2"/>
    <child link="r_foot_rear"/>
    <dynamics damping="0.1"/>
  </joint>
  <link name="r_sole"/>
  <joint name="r_sole_fixed_joint" type="fixed">
    <origin xyz="0.05963000000000001 0 0" rpy="0 0 0"/>
    <parent link="r_foot_rear"/>
    <child link="r_sole"/>
    <dynamics damping="0.1"/>
  </joint>
  <link name="r_sole_4"/>
  <joint name="r_sole_4_fixed_joint" type="fixed">
    <origin xyz="-0.034999999999999996 -0.03015000000000001 0" rpy="0 0 0"/>
    <parent link="r_foot_rear"/>
    <child link="r_sole_4"/>
    <dynamics damping="0.1"/>
  </joint>
  <link name="r_sole_3"/>
  <joint name="r_sole_3_fixed_joint" type="fixed">
    <origin xyz="-0.034999999999999996 0.02484999999999999 0" rpy="0 0 0"/>
    <parent link="r_foot_rear"/>
    <child link="r_sole_3"/>
    <dynamics damping="0.1"/>
  </joint>
  <link name="torso_1">
    <inertial>
      <origin xyz="-0.008004200000000001 0.000351303 0.051944000000000046" rpy="0 0 -1.5707963267948966"/>
      <mass value="1.8989"/>
      <inertia ixx="0.0038024477026934725" ixy="1.2239671000204914e-06" ixz="-5.050107277839758e-06" iyy="0.0029226483914300675" iyz="-0.00035973651191912757" izz="0.0023018125890803946"/>
    </inertial>
    <visual>
      <origin xyz="0 5e-05 0.2533580000000001" rpy="0 0 -1.5707963267948966"/>
      <geometry>
        <mesh filename="package://iRonCub-Mk3/iRonCub/meshes/stl/sim_icub3_torso_1_prt.stl" scale="0.001 0.001 0.001"/>
      </geometry>
      <material name="blue">
        <color rgba="0 0 0.8 1"/>
      </material>
    </visual>
    <collision>
      <origin xyz="0 5e-05 0.2533580000000001" rpy="0 0 -1.5707963267948966"/>
      <geometry>
        <mesh filename="package://iRonCub-Mk3/iRonCub/meshes/stl/sim_icub3_torso_1_prt.stl" scale="0.001 0.001 0.001"/>
      </geometry>
    </collision>
  </link>
  <joint name="torso_roll" type="revolute">
    <origin xyz="0 -5e-05 0.0605" rpy="0 0 0"/>
    <axis xyz="-1.0 0.0 0.0"/>
    <parent link="root_link"/>
    <child link="torso_1"/>
    <limit effort="50000" lower="-0.4014257279586958" upper="0.4014257279586958" velocity="120.0"/>
    <dynamics damping="2.0" friction="0.0"/>
  </joint>
  <link name="torso_2">
    <inertial>
      <origin xyz="0.00131935 0.00332192 0.026808" rpy="0 0 -1.5707963267948966"/>
      <mass value="0.77098"/>
      <inertia ixx="0.0008105413874308448" ixy="-3.5442504712774724e-06" ixz="-7.21480883330135e-05" iyy="0.0014602573028254073" iyz="-1.0808501368993641e-05" izz="0.0012107068713070723"/>
    </inertial>
    <visual>
      <origin xyz="0 0 0.18085800000000019" rpy="0 0 -1.5707963267948966"/>
      <geometry>
        <mesh filename="package://iRonCub-Mk3/iRonCub/meshes/stl/sim_icub3_torso_2_prt.stl" scale="0.001 0.001 0.001"/>
      </geometry>
      <material name="yellow">
        <color rgba="0 0 0.8 1"/>
      </material>
    </visual>
    <collision>
      <origin xyz="0 0 0.18085800000000019" rpy="0 0 -1.5707963267948966"/>
      <geometry>
        <mesh filename="package://iRonCub-Mk3/iRonCub/meshes/stl/sim_icub3_torso_2_prt.stl" scale="0.001 0.001 0.001"/>
      </geometry>
    </collision>
  </link>
  <joint name="torso_pitch" type="revolute">
    <origin xyz="0 5e-05 0.07250000000000001" rpy="0 0 0"/>
    <axis xyz="0.0 1.0 0.0"/>
    <parent link="torso_1"/>
    <child link="torso_2"/>
    <limit effort="50000" lower="-0.3141592653589793" upper="0.7853981633974483" velocity="120.0"/>
    <dynamics damping="2.0" friction="0.0"/>
  </joint>
  <link name="chest">
    <inertial>
      <origin xyz="-0.00597433 -7.26041e-05 0.06416630000000001" rpy="0 0 -1.5707963267948966"/>
      <mass value="8.8237"/>
      <inertia ixx="0.039708617760736864" ixy="6.204355274120594e-05" ixz="0.00016506620484397756" iyy="0.03867392720151877" iyz="-0.002048920943396954" izz="0.03467001611831408"/>
    </inertial>
    <visual>
      <origin xyz="0 0 0.11638800000000014" rpy="0 0 -1.5707963267948966"/>
      <geometry>
        <mesh filename="package://iRonCub-Mk3/iRonCub/meshes/stl/sim_icub3_chest_prt.stl" scale="0.001 0.001 0.001"/>
      </geometry>
      <material name="chest_color">
        <color rgba="0 0 0.8 1.0"/>
      </material>
    </visual>
    <collision>
      <origin xyz="0 0 0.11638800000000014" rpy="0 0 -1.5707963267948966"/>
      <geometry>
        <mesh filename="package://iRonCub-Mk3/iRonCub/meshes/stl/sim_icub3_chest_prt.stl" scale="0.001 0.001 0.001"/>
      </geometry>
    </collision>
  </link>
  <joint name="torso_yaw" type="revolute">
    <origin xyz="0 0 0.06447000000000001" rpy="0 0 0"/>
    <axis xyz="0.0 0.0 -1.0"/>
    <parent link="torso_2"/>
    <child link="chest"/>
    <limit effort="50000" lower="-0.7504915783575618" upper="0.7504915783575618" velocity="120.0"/>
    <dynamics damping="2.0" friction="0.0"/>
  </joint>
  <link name="chest_depth_frame"/>
  <joint name="chest_depth_frame_fixed_joint" type="fixed">
    <origin xyz="0.0894115 0.0175 0.09929950000000001" rpy="-1.5707963267948968 0 -1.5707963267948968"/>
    <parent link="chest"/>
    <child link="chest_depth_frame"/>
    <dynamics damping="0.1"/>
  </joint>
  <link name="chest_rgb_frame"/>
  <joint name="chest_rgb_frame_fixed_joint" type="fixed">
    <origin xyz="0.0894115 -0.0115 0.09929950000000001" rpy="-1.5707963267948968 0 -1.5707963267948968"/>
    <parent link="chest"/>
    <child link="chest_rgb_frame"/>
    <dynamics damping="0.1"/>
  </joint>
  <link name="chest_jetpack">
    <inertial>
      <origin xyz="-0.08999715696999999 -0.0664036 -0.04002099999999999" rpy="1.5707963267948966 0 3.141592653589793"/>
      <mass value="1.80559"/>
      <inertia ixx="0.0108291" ixy="0.0" ixz="0.0" iyy="0.0139177" iyz="0.000593622" izz="0.0136849"/>
    </inertial>
    <visual>
      <origin xyz="-0.09000000000000005 -0.10369599999999986 0.08499999999999977" rpy="1.5707963267948966 0 3.141592653589793"/>
      <geometry>
        <mesh filename="package://iRonCub-Mk3/iRonCub/meshes/stl/sim_sea_3_jetpack_prt.stl" scale="0.001 0.001 0.001"/>
      </geometry>
      <material name="pink">
        <color rgba="0 0 0.8 1"/>
      </material>
    </visual>
    <collision>
      <origin xyz="-0.09000000000000005 -0.10369599999999986 0.08499999999999977" rpy="1.5707963267948966 0 3.141592653589793"/>
      <geometry>
        <mesh filename="package://iRonCub-Mk3/iRonCub/meshes/stl/sim_sea_3_jetpack_prt.stl" scale="0.001 0.001 0.001"/>
      </geometry>
    </collision>
  </link>
  <joint name="jetpack" type="fixed">
    <origin xyz="-0.085 0.09 0.220084" rpy="1.5707963267948968 0 1.5707963267948968"/>
    <parent link="chest"/>
    <child link="chest_jetpack"/>
    <dynamics damping="0.1"/>
  </joint>
  <link name="L_BRACKET"/>
  <joint name="L_BRACKET_fixed_joint" type="fixed">
    <origin xyz="0.0025000000000000022 -0.108446 -0.045" rpy="1.5707963267948966 0 0"/>
    <parent link="chest_jetpack"/>
    <child link="L_BRACKET"/>
    <dynamics damping="0.1"/>
  </joint>
  <link name="R_BRACKET"/>
  <joint name="R_BRACKET_fixed_joint" type="fixed">
    <origin xyz="-0.1825 -0.108446 -0.045" rpy="-1.570796326794897 0 3.141592653589793"/>
    <parent link="chest_jetpack"/>
    <child link="R_BRACKET"/>
    <dynamics damping="0.1"/>
  </joint>
  <link name="chest_r_bracket">
    <inertial>
      <origin xyz="0.040186 0 -0.013638599999999994" rpy="3.141592653589793 0 3.141592653589793"/>
      <mass value="0.24286"/>
      <inertia ixx="6.4684e-05" ixy="0.0" ixz="3.71713e-05" iyy="0.00025865" iyz="0.0" izz="0.0003145"/>
    </inertial>
    <visual>
      <origin xyz="0 0 0" rpy="3.141592653589793 0 0"/>
      <geometry>
        <mesh filename="[local-path]\Documents\GitHub\element_co-generative-cad\Mode_frontierAnalayses\jetpack_forearm_simulink_controller\jetpack_forearm_control_simulink_controller_00066\proc\00000-00999\00441\Matlab25_00000\cogen_001_p_001.prt_ascii.stl" scale="0.001 0.001 0.001"/>
      </geometry>
      <material name="cyan">
        <color rgba="0 1 1 1"/>
      </material>
    </visual>
    <collision>
      <origin xyz="-0.0925 0.12999999999999995 -0.004749999999999998" rpy="3.141592653589793 0 3.141592653589793"/>
      <geometry>
        <mesh filename="package://iRonCub-Mk3/iRonCub/meshes/stl/sim_sea_3_r_bracket_prt.stl" scale="0.001 0.001 0.001"/>
      </geometry>
    </collision>
  </link>
  <joint name="r_bracket" type="fixed">
    <origin xyz="-0.1825 -0.108446 -0.045" rpy="-1.570796326794897 0 3.141592653589793"/>
    <parent link="chest_jetpack"/>
    <child link="chest_r_bracket"/>
    <dynamics damping="0.1"/>
  </joint>
  <link name="chest_r_turbine_support">
    <inertial>
      <origin xyz="0.033974948560747814 1.000000000001e-06 0.025325496432461944" rpy="3.141592653589793 -0.26179931982715643 0"/>
      <mass value="0.513465"/>
      <inertia ixx="0.000737005" ixy="-1.84704e-08" ixz="-0.000203475" iyy="0.00132011" iyz="0.0" izz="0.00185737"/>
    </inertial>
    <visual>
      <origin xyz="-0.15624417980240066 -0.12999999999999978 -0.033999472494660433" rpy="3.141592653589793 -0.26179931982715643 0"/>
      <geometry>
        <mesh filename="package://iRonCub-Mk3/iRonCub/meshes/stl/sim_sea_3_r_turbine_support_prt.stl" scale="0.001 0.001 0.001"/>
      </geometry>
      <material name="green">
        <color rgba="0 1 0 1"/>
      </material>
    </visual>
    <collision>
      <origin xyz="-0.15624417980240066 -0.12999999999999978 -0.033999472494660433" rpy="3.141592653589793 -0.26179931982715643 0"/>
      <geometry>
        <mesh filename="package://iRonCub-Mk3/iRonCub/meshes/stl/sim_sea_3_r_turbine_support_prt.stl" scale="0.001 0.001 0.001"/>
      </geometry>
    </collision>
  </link>
  <joint name="r_turbine_support" type="fixed">
    <origin xyz="0.071195           0 -0.00083849" rpy="0    0.017453           0"/>
    <parent link="chest_r_bracket"/>
    <child link="chest_r_turbine_support"/>
    <dynamics damping="0.1"/>
  </joint>
  <link name="chest_r_jet_turbine">
    <inertial>
      <origin xyz="5.000000000002197e-05 -6.602469999855698e-05 -0.15870252299023924" rpy="3.141592653589793 -0.26179931982715643 1.5707963267948968"/>
      <mass value="2.115"/>
      <inertia ixx="0.00787141" ixy="7.21352e-06" ixz="0.00136635" iyy="0.0082371" iyz="-1.12055e-05" izz="0.0031427"/>
    </inertial>
    <visual>
      <origin xyz="0.12971099999999988 -0.25124341315963833 -0.22335106276867228" rpy="3.141592653589793 -0.26179931982715643 1.5707963267948968"/>
      <geometry>
        <mesh filename="package://iRonCub-Mk3/iRonCub/meshes/stl/sim_sea_3_r_jet_turbine_prt.stl" scale="0.001 0.001 0.001"/>
      </geometry>
      <material name="white">
        <color rgba="1 1 1 1"/>
      </material>
    </visual>
    <collision>
      <origin xyz="0.12971099999999988 -0.25124341315963833 -0.22335106276867228" rpy="3.141592653589793 -0.26179931982715643 1.5707963267948968"/>
      <geometry>
        <mesh filename="package://iRonCub-Mk3/iRonCub/meshes/stl/sim_sea_3_r_jet_turbine_prt.stl" scale="0.001 0.001 0.001"/>
      </geometry>
    </collision>
  </link>
  <joint name="r_jet_turbine" type="fixed">
    <origin xyz="0.09499923335723759 -0.0002889999999999837 0.1893515902740118" rpy="0 0 -1.5707963267948966"/>
    <parent link="chest_r_turbine_support"/>
    <child link="chest_r_jet_turbine"/>
    <dynamics damping="0.1"/>
  </joint>
  <link name="chest_l_bracket">
    <inertial>
      <origin xyz="0.040185999999999986 0 -0.013638599999999994" rpy="3.141592653589793 0 3.141592653589793"/>
      <mass value="0.24286"/>
      <inertia ixx="6.4684e-05" ixy="0.0" ixz="3.71713e-05" iyy="0.00025865" iyz="0.0" izz="0.0003145"/>
    </inertial>
    <visual>
      <origin xyz="0 0 0" rpy="3.141592653589793 0 0"/>
      <geometry>
        <mesh filename="[local-path]\Documents\GitHub\element_co-generative-cad\Mode_frontierAnalayses\jetpack_forearm_simulink_controller\jetpack_forearm_control_simulink_controller_00066\proc\00000-00999\00441\Matlab25_00000\cogen_001_p_001.prt_ascii.stl" scale="0.001 0.001 0.001"/>
      </geometry>
      <material name="dblue">
        <color rgba="0 1 1 1"/>
      </material>
    </visual>
    <collision>
      <origin xyz="-0.09250000000000001 0.12999999999999978 -0.00475000000000014" rpy="3.141592653589793 0 3.141592653589793"/>
      <geometry>
        <mesh filename="package://iRonCub-Mk3/iRonCub/meshes/stl/sim_sea_3_l_bracket_prt.stl" scale="0.001 0.001 0.001"/>
      </geometry>
    </collision>
  </link>
  <joint name="l_bracket" type="fixed">
    <origin xyz="0.0025000000000000022 -0.108446 -0.045" rpy="1.5707963267948966 0 0"/>
    <parent link="chest_jetpack"/>
    <child link="chest_l_bracket"/>
    <dynamics damping="0.1"/>
  </joint>
  <link name="chest_l_turbine_support">
    <inertial>
      <origin xyz="0.03397903484844561 1.000000000001e-06 0.025325701012153992" rpy="3.141592653589793 0.26179931982715643 3.141592653589793"/>
      <mass value="0.513465"/>
      <inertia ixx="0.000736992" ixy="-1.84723e-08" ixz="0.000203433" iyy="0.00131997" iyz="0.0" izz="0.00185725"/>
    </inertial>
    <visual>
      <origin xyz="-0.15624417980240077 0.12999999999999978 -0.03399947249466047" rpy="3.141592653589793 0.26179931982715643 3.141592653589793"/>
      <geometry>
        <mesh filename="package://iRonCub-Mk3/iRonCub/meshes/stl/sim_sea_3_l_turbine_support_prt.stl" scale="0.001 0.001 0.001"/>
      </geometry>
      <material name="dgreen">
        <color rgba="0 1 0 1"/>
      </material>
    </visual>
    <collision>
      <origin xyz="-0.15624417980240077 0.12999999999999978 -0.03399947249466047" rpy="3.141592653589793 0.26179931982715643 3.141592653589793"/>
      <geometry>
        <mesh filename="package://iRonCub-Mk3/iRonCub/meshes/stl/sim_sea_3_l_turbine_support_prt.stl" scale="0.001 0.001 0.001"/>
      </geometry>
    </collision>
  </link>
  <joint name="l_turbine_support" type="fixed">
    <origin xyz="0.071195           0 -0.00083849" rpy="0    0.017453           0"/>
    <parent link="chest_l_bracket"/>
    <child link="chest_l_turbine_support"/>
    <dynamics damping="0.1"/>
  </joint>
  <link name="chest_l_jet_turbine">
    <inertial>
      <origin xyz="4.9000000000021445e-05 -5.932499839716998e-05 -0.1587105537506091" rpy="3.141592653589793 0.26179931982715643 1.5707963267948968"/>
      <mass value="2.11661"/>
      <inertia ixx="0.00787268" ixy="6.50611e-07" ixz="-0.00136457" iyy="0.00823746" iyz="-1.33065e-05" izz="0.0031418"/>
    </inertial>
    <visual>
      <origin xyz="0.12971099999999977 0.2507434833286949 -0.2233506576354603" rpy="3.141592653589793 0.26179931982715643 1.5707963267948968"/>
      <geometry>
        <mesh filename="package://iRonCub-Mk3/iRonCub/meshes/stl/sim_sea_3_l_jet_turbine_prt.stl" scale="0.001 0.001 0.001"/>
      </geometry>
      <material name="gray">
        <color rgba="1 1 1 1"/>
      </material>
    </visual>
    <collision>
      <origin xyz="0.12971099999999977 0.2507434833286949 -0.2233506576354603" rpy="3.141592653589793 0.26179931982715643 1.5707963267948968"/>
      <geometry>
        <mesh filename="package://iRonCub-Mk3/iRonCub/meshes/stl/sim_sea_3_l_jet_turbine_prt.stl" scale="0.001 0.001 0.001"/>
      </geometry>
    </collision>
  </link>
  <joint name="l_jet_turbine" type="fixed">
    <origin xyz="0.09449930352629421 0.0002889999999999837 0.1893511851407998" rpy="0 0 1.5707963267948966"/>
    <parent link="chest_l_turbine_support"/>
    <child link="chest_l_jet_turbine"/>
    <dynamics damping="0.1"/>
  </joint>
  <link name="neck_1">
    <inertial>
      <origin xyz="-0.0021259300000000003 0.00033753499999999997 0.031454700000000016" rpy="-1.5707963267948968 0 -1.5707963267948968"/>
      <mass value="0.36804"/>
      <inertia ixx="0.000179701897883096" ixy="-8.833876708276077e-06" ixz="-1.4878426738622656e-05" iyy="0.0002675144279997793" iyz="5.57627455590208e-06" izz="0.00028375118819347193"/>
    </inertial>
    <visual>
      <origin xyz="0.00865 0 0.049000000000000016" rpy="-1.5707963267948968 0 -1.5707963267948968"/>
      <geometry>
        <mesh filename="package://iRonCub-Mk3/iRonCub/meshes/stl/sim_head_neck_1_prt.stl" scale="0.001 0.001 0.001"/>
      </geometry>
      <material name="green">
        <color rgba="1 1 1 1"/>
      </material>
    </visual>
    <collision>
      <origin xyz="0.00865 0 0.049000000000000016" rpy="-1.5707963267948968 0 -1.5707963267948968"/>
      <geometry>
        <mesh filename="package://iRonCub-Mk3/iRonCub/meshes/stl/sim_head_neck_1_prt.stl" scale="0.001 0.001 0.001"/>
      </geometry>
    </collision>
  </link>
  <joint name="neck_fixed_joint" type="fixed">
    <origin xyz="-0.00378849 0 0.1652995" rpy="0 0 0"/>
    <parent link="chest"/>
    <child link="neck_1"/>
    <dynamics damping="0.1"/>
  </joint>
  <link name="neck_2">
    <inertial>
      <origin xyz="-0.0063756 3.63093e-05 0.006597499999999992" rpy="-1.5707963267948968 0 -1.5707963267948968"/>
      <mass value="0.1214"/>
      <inertia ixx="3.922803192379071e-05" ixy="5.7011653935913464e-08" ixz="9.665431536690854e-08" iyy="3.7385115930831784e-05" iyz="-9.08258119140734e-06" izz="4.585137085918645e-05"/>
    </inertial>
    <visual>
      <origin xyz="0 0 0" rpy="-1.5707963267948968 0 -1.5707963267948968"/>
      <geometry>
        <mesh filename="package://iRonCub-Mk3/iRonCub/meshes/stl/sim_head_neck_2_prt.stl" scale="0.001 0.001 0.001"/>
      </geometry>
      <material name="black">
        <color rgba="1 1 1 1"/>
      </material>
    </visual>
    <collision>
      <origin xyz="0 0 0" rpy="-1.5707963267948968 0 -1.5707963267948968"/>
      <geometry>
        <mesh filename="package://iRonCub-Mk3/iRonCub/meshes/stl/sim_head_neck_2_prt.stl" scale="0.001 0.001 0.001"/>
      </geometry>
    </collision>
  </link>
  <joint name="neck_pitch" type="revolute">
    <origin xyz="0.00865 0 0.049000000000000016" rpy="0 0 0"/>
    <axis xyz="0.0 -1.0 0.0"/>
    <parent link="neck_1"/>
    <child link="neck_2"/>
    <limit effort="50000" lower="-0.5235987755982988" upper="0.3839724354387525" velocity="120.0"/>
    <dynamics damping="2.0" friction="0.0"/>
  </joint>
  <link name="neck_3">
    <inertial>
      <origin xyz="0.0012653999999999999 -8.218820000000001e-05 0.036108999999999974" rpy="-1.5707963267948968 0 -1.5707963267948968"/>
      <mass value="0.18386"/>
      <inertia ixx="0.00011968746119821388" ixy="-5.240077207007726e-07" ixz="-3.6002165484161086e-07" iyy="3.99187384725429e-05" iyz="-9.97584076409671e-06" izz="0.00010705060973108298"/>
    </inertial>
    <visual>
      <origin xyz="0 0 -0.009500499999999995" rpy="-1.5707963267948968 0 -1.5707963267948968"/>
      <geometry>
        <mesh filename="package://iRonCub-Mk3/iRonCub/meshes/stl/sim_head_neck_3_prt.stl" scale="0.001 0.001 0.001"/>
      </geometry>
      <material name="red">
        <color rgba="1 1 1 1"/>
      </material>
    </visual>
    <collision>
      <origin xyz="0 0 -0.009500499999999995" rpy="-1.5707963267948968 0 -1.5707963267948968"/>
      <geometry>
        <mesh filename="package://iRonCub-Mk3/iRonCub/meshes/stl/sim_head_neck_3_prt.stl" scale="0.001 0.001 0.001"/>
      </geometry>
    </collision>
  </link>
  <joint name="neck_roll" type="revolute">
    <origin xyz="0 0 0.009500499999999995" rpy="0 0 0"/>
    <axis xyz="1.0 0.0 0.0"/>
    <parent link="neck_2"/>
    <child link="neck_3"/>
    <limit effort="50000" lower="-0.3490658503988659" upper="0.3490658503988659" velocity="120.0"/>
    <dynamics damping="2.0" friction="0.0"/>
  </joint>
  <link name="head">
    <inertial>
      <origin xyz="-0.02065171 0.000526031 0.027896999999999977" rpy="-1.5707963267948968 0 -1.5707963267948968"/>
      <mass value="1.8728"/>
      <inertia ixx="0.007642647745719656" ixy="4.8998499721183834e-05" ixz="4.926393457113943e-05" iyy="0.007404636328713935" iyz="-0.00019328685350792046" izz="0.005594148247588756"/>
    </inertial>
    <visual>
      <origin xyz="0 0 -0.07865050000000001" rpy="-1.5707963267948968 0 -1.5707963267948968"/>
      <geometry>
        <mesh filename="package://iRonCub-Mk3/iRonCub/meshes/stl/sim_head_head_prt.stl" scale="0.001 0.001 0.001"/>
      </geometry>
      <material name="blue">
        <color rgba="1 1 1 1"/>
      </material>
    </visual>
    <collision>
      <origin xyz="0 0 -0.07865050000000001" rpy="-1.5707963267948968 0 -1.5707963267948968"/>
      <geometry>
        <mesh filename="package://iRonCub-Mk3/iRonCub/meshes/stl/sim_head_head_prt.stl" scale="0.001 0.001 0.001"/>
      </geometry>
    </collision>
  </link>
  <joint name="neck_yaw" type="revolute">
    <origin xyz="0 0 0.06915000000000002" rpy="0 0 0"/>
    <axis xyz="0.0 0.0 1.0"/>
    <parent link="neck_3"/>
    <child link="head"/>
    <limit effort="50000" lower="-0.7853981633974483" upper="0.7853981633974483" velocity="120.0"/>
    <dynamics damping="2.0" friction="0.0"/>
  </joint>
  <link name="l_shoulder_1">
    <inertial>
      <origin xyz="0.00016753510172435454 0.08722598325113093 0.0004507876462612366" rpy="-0.06688748006582523 -0.2444524795872544 -1.3007776603865422"/>
      <mass value="0.78644"/>
      <inertia ixx="0.00039843690200765293" ixy="0.00017359471090191915" ixz="0.00016289691907417792" iyy="0.0010102030321362176" iyz="-4.081880122662575e-05" izz="0.000992284738493621"/>
    </inertial>
    <visual>
      <origin xyz="0.030411223823216114 -0.029140477503746667 0.01909576653967796" rpy="-0.06688748006582523 -0.2444524795872544 -1.3007776603865422"/>
      <geometry>
        <mesh filename="package://iRonCub-Mk3/iRonCub/meshes/stl/sim_icub3_l_shoulder_1_prt.stl" scale="0.001 0.001 0.001"/>
      </geometry>
      <material name="yellow">
        <color rgba="1 1 1 1"/>
      </material>
    </visual>
    <collision>
      <origin xyz="0.030411223823216114 -0.029140477503746667 0.01909576653967796" rpy="-0.06688748006582523 -0.2444524795872544 -1.3007776603865422"/>
      <geometry>
        <mesh filename="package://iRonCub-Mk3/iRonCub/meshes/stl/sim_icub3_l_shoulder_1_prt.stl" scale="0.001 0.001 0.001"/>
      </geometry>
    </collision>
  </link>
  <joint name="l_shoulder_pitch" type="revolute">
    <origin xyz="-0.020835100000000002 0.0397423 0.1052029" rpy="0.25326162380993705 -1.1977334179319483e-07 -0.26179930184968747"/>
    <axis xyz="3.323079797673039e-07 0.9999999783534342 1.4452224303407313e-07"/>
    <parent link="chest"/>
    <child link="l_shoulder_1"/>
    <limit effort="50000" lower="-3.0543261909900767" upper="0.3490658503988659" velocity="120.0"/>
    <dynamics damping="2.0" friction="0.0"/>
  </joint>
  <link name="l_shoulder_2">
    <inertial>
      <origin xyz="0.0076686687055762676 0.00018849980855933923 -0.020403454228093053" rpy="-0.12008543635729367 -0.2297887323171894 -1.2882780461440753"/>
      <mass value="0.42492"/>
      <inertia ixx="0.00038388233784675605" ixy="-4.916851307375464e-05" ixz="-6.324300296292925e-05" iyy="0.00031068388949320714" iyz="-7.587195452290467e-05" izz="0.00026013597951892223"/>
    </inertial>
    <visual>
      <origin xyz="0.026393096265395596 -0.14064030580326706 0.017434480978924874" rpy="-0.12008543635729367 -0.2297887323171894 -1.2882780461440753"/>
      <geometry>
        <mesh filename="package://iRonCub-Mk3/iRonCub/meshes/stl/sim_icub3_l_shoulder_2_prt.stl" scale="0.001 0.001 0.001"/>
      </geometry>
      <material name="pink">
        <color rgba="1 1 1 1"/>
      </material>
    </visual>
    <collision>
      <origin xyz="0.026393096265395596 -0.14064030580326706 0.017434480978924874" rpy="-0.12008543635729367 -0.2297887323171894 -1.2882780461440753"/>
      <geometry>
        <mesh filename="package://iRonCub-Mk3/iRonCub/meshes/stl/sim_icub3_l_shoulder_2_prt.stl" scale="0.001 0.001 0.001"/>
      </geometry>
    </collision>
  </link>
  <joint name="l_shoulder_roll" type="revolute">
    <origin xyz="0.004992849331690821 0.11149983845609901 0.00026865022773668937" rpy="-0.17453296140985003 -0.05374759931933849 0"/>
    <axis xyz="0.9999998262417685 2.034825262722459e-07 -4.0230228454118944e-08"/>
    <parent link="l_shoulder_1"/>
    <child link="l_shoulder_2"/>
    <limit effort="50000" lower="0.20943951023931956" upper="2.8448866807507573" velocity="120.0"/>
    <dynamics damping="2.0" friction="0.0"/>
  </joint>
  <link name="l_shoulder_3">
    <inertial>
      <origin xyz="-9.561931744894031e-05 3.089115052354319e-05 -0.007966608685190314" rpy="-0.12008543635729367 -0.2297887323171894 -1.2882780461440753"/>
      <mass value="0.2625"/>
      <inertia ixx="7.626797646850803e-05" ixy="-1.6986505676585652e-06" ixz="1.0777869051741286e-05" iyy="7.457103744115285e-05" iyz="-5.511652932595611e-06" izz="0.00012000121562184585"/>
    </inertial>
    <visual>
      <origin xyz="0.030743229422373917 -0.14064066906059042 0.0717345197029866" rpy="-0.12008543635729367 -0.2297887323171894 -1.2882780461440753"/>
      <geometry>
        <mesh filename="package://iRonCub-Mk3/iRonCub/meshes/stl/sim_icub3_l_shoulder_3_prt.stl" scale="0.001 0.001 0.001"/>
      </geometry>
      <material name="cyan">
        <color rgba="0 0 0.8 1"/>
      </material>
    </visual>
    <collision>
      <origin xyz="0.030743229422373917 -0.14064066906059042 0.0717345197029866" rpy="-0.12008543635729367 -0.2297887323171894 -1.2882780461440753"/>
      <geometry>
        <mesh filename="package://iRonCub-Mk3/iRonCub/meshes/stl/sim_icub3_l_shoulder_3_prt.stl" scale="0.001 0.001 0.001"/>
      </geometry>
    </collision>
  </link>
  <joint name="l_arm_ft_sensor" type="fixed">
    <origin xyz="-0.004350133156978318 3.632573233602887e-07 -0.05430003872406172" rpy="0 0 0"/>
    <parent link="l_shoulder_2"/>
    <child link="l_shoulder_3"/>
    <dynamics damping="0.1"/>
  </joint>
  <link name="l_upper_arm">
    <inertial>
      <origin xyz="0.0010476375729993916 0.002559622582259863 -0.05065314985074498" rpy="-0.06212860830092193 0.0714268908124578 0.27099931149673545"/>
      <mass value="1.67729"/>
      <inertia ixx="0.002960829234557446" ixy="-1.0441222117313817e-05" ixz="0.00022298859388284023" iyy="0.0030756376591531418" iyz="0.00020156448677983343" izz="0.001327263106289413"/>
    </inertial>
    <visual>
      <origin xyz="0.030743147864881363 -0.14064024560810592 0.09423446107611103" rpy="-0.12008543635729367 -0.2297887323171894 -1.2882780461440753"/>
      <geometry>
        <mesh filename="package://iRonCub-Mk3/iRonCub/meshes/stl/sim_icub3_l_upperarm_prt.stl" scale="0.001 0.001 0.001"/>
      </geometry>
      <material name="green">
        <color rgba="0 0 0.8 1"/>
      </material>
    </visual>
    <collision>
      <origin xyz="0.030743147864881363 -0.14064024560810592 0.09423446107611103" rpy="-0.12008543635729367 -0.2297887323171894 -1.2882780461440753"/>
      <geometry>
        <mesh filename="package://iRonCub-Mk3/iRonCub/meshes/stl/sim_icub3_l_upperarm_prt.stl" scale="0.001 0.001 0.001"/>
      </geometry>
    </collision>
  </link>
  <joint name="l_shoulder_yaw" type="revolute">
    <origin xyz="0 -4.2345248449371375e-07 -0.02249994137312443" rpy="0 0 0"/>
    <axis xyz="2.2276474047344674e-08 -4.39378624733644e-08 -1.0000002566182309"/>
    <parent link="l_shoulder_3"/>
    <child link="l_upper_arm"/>
    <limit effort="50000" lower="-0.8726646259971648" upper="1.3962634015954636" velocity="120.0"/>
    <dynamics damping="2.0" friction="0.0"/>
  </joint>
  <link name="l_elbow_1">
    <inertial>
      <origin xyz="-0.00423027106126244 0.0004313452938078943 -0.0009432406828351891" rpy="-0.12008543635729367 -0.2297887323171894 -1.2882780461440753"/>
      <mass value="0.107667"/>
      <inertia ixx="1.39504e-05" ixy="1.76574e-06" ixz="3.57718e-06" iyy="2.16784e-05" iyz="-8.71415e-07" izz="2.71069e-05"/>
    </inertial>
    <visual>
      <origin xyz="0.02074321762996196 -0.13914059818467703 0.21793479861369477" rpy="-0.12008543635729367 -0.2297887323171894 -1.2882780461440753"/>
      <geometry>
        <mesh filename="package://iRonCub-Mk3/iRonCub/meshes/stl/sim_icub3_l_elbow_prt.stl" scale="0.001 0.001 0.001"/>
      </geometry>
      <material name="white">
        <color rgba="1 1 1 1"/>
      </material>
    </visual>
    <collision>
      <origin xyz="0.02074321762996196 -0.13914059818467703 0.21793479861369477" rpy="-0.12008543635729367 -0.2297887323171894 -1.2882780461440753"/>
      <geometry>
        <mesh filename="package://iRonCub-Mk3/iRonCub/meshes/stl/sim_icub3_l_elbow_prt.stl" scale="0.001 0.001 0.001"/>
      </geometry>
    </collision>
  </link>
  <joint name="l_elbow" type="revolute">
    <origin xyz="0.0099999302349194 -0.001499647423428896 -0.12370033753758373" rpy="0 0 0"/>
    <axis xyz="-8.81182417675902e-08 -1.0000002733514628 4.404736120289243e-08"/>
    <parent link="l_upper_arm"/>
    <child link="l_elbow_1"/>
    <limit effort="50000" lower="-0.05235987755982989" upper="1.3089969389957472" velocity="120.0"/>
    <dynamics damping="2.0" friction="0.0"/>
  </joint>
  <link name="L_FOREARM"/>
  <joint name="L_FOREARM_fixed_joint" type="fixed">
    <origin xyz="-0.014999997481142335 0.001999966984672058 0.006000190633300373" rpy="1.5707963634150914 -1.5707959411047887 0"/>
    <parent link="l_elbow_1"/>
    <child link="L_FOREARM"/>
    <dynamics damping="0.1"/>
  </joint>
  <link name="l_forearm">
    <inertial>
      <origin xyz="-0.13144957359056722 6.579725385970348e-05 -0.023664172318918125" rpy="-2.3561949108383837 -1.2085781829840494 -0.872663970096126"/>
      <mass value="0.68965"/>
      <inertia ixx="0.00090763" ixy="0.000250775" ixz="-0.000415171" iyy="0.0020634" iyz="0.000153302" izz="0.0021615"/>
    </inertial>
    <visual>
      <origin xyz="0 0 0" rpy="-0.1745 0 0 "/>
      <geometry>
        <mesh filename="[local-path]\Documents\GitHub\element_co-generative-cad\Mode_frontierAnalayses\jetpack_forearm_simulink_controller\jetpack_forearm_control_simulink_controller_00066\proc\00000-00999\00441\Matlab26_00000\cogen_001_p_002.prt_ascii.stl" scale="0.001 0.001 0.001"/>
      </geometry>
      <material name="dblue">
        <color rgba="0 0 0.8 1"/>
      </material>
    </visual>
    <collision>
      <origin xyz="0.21193456418652468 -0.0357431759934032 0.14114064083593308" rpy="-2.3561949108383837 -1.2085781829840494 -0.872663970096126"/>
      <geometry>
        <mesh filename="package://iRonCub-Mk3/iRonCub/meshes/stl/sim_icub3_l_elbow_prosup_prt.stl" scale="0.001 0.001 0.001"/>
      </geometry>
    </collision>
  </link>
  <joint name="l_prosup_joint" type="fixed">
    <origin xyz="-0.014999997481142335 0.001999966984672058 0.006000190633300373" rpy="1.5707963634150914 -1.5707959411047887 0"/>
    <parent link="l_elbow_1"/>
    <child link="l_forearm"/>
    <dynamics damping="0.1"/>
  </joint>
  <link name="l_arm_jet_turbine">
    <inertial>
      <origin xyz="2.4681861376940617e-07 0 -0.15814158399339034" rpy="3.0215072327565813 0.22978870437666338 -0.2825182075180713"/>
      <mass value="2.155"/>
      <inertia ixx="-0.00934762" ixy="-0.000261966" ixz="0.00217093" iyy="-0.00972494" iyz="-0.00111183" izz="-0.000645087"/>
    </inertial>
    <visual>
      <origin xyz="0.23085097168388896 -0.03574304568941889 -0.5299356907276523" rpy="3.0215072327565813 0.22978870437666338 -0.2825182075180713"/>
      <geometry>
        <mesh filename="package://iRonCub-Mk3/iRonCub/meshes/stl/sim_sea_l_arm_p250_prt.stl" scale="0.001 0.001 0.001"/>
      </geometry>
      <material name="dgreen">
        <color rgba="1 1 1 1"/>
      </material>
    </visual>
    <collision>
      <origin xyz="0.23085097168388896 -0.03574304568941889 -0.5299356907276523" rpy="3.0215072327565813 0.22978870437666338 -0.2825182075180713"/>
      <geometry>
        <mesh filename="package://iRonCub-Mk3/iRonCub/meshes/stl/sim_sea_l_arm_p250_prt.stl" scale="0.001 0.001 0.001"/>
      </geometry>
    </collision>
  </link>
  <joint name="l_elbow_turbine" type="fixed">
    <origin xyz="-0.26           0      -0.088" rpy="1.5346e-07     -1.5708           0"/>
    <parent link="l_forearm"/>
    <child link="l_arm_jet_turbine"/>
    <dynamics damping="0.1"/>
  </joint>
  <link name="r_shoulder_1">
    <inertial>
      <origin xyz="0.00016744811157206468 -0.08721740246539643 0.0004507343002208668" rpy="-0.06688725064450136 0.24445256247619251 -1.840815419889917"/>
      <mass value="0.78697"/>
      <inertia ixx="0.0003985239519684459" ixy="-0.0001736132173031554" ixz="-0.0001629290145974639" iyy="0.0010103722401209082" iyz="-4.081377037378354e-05" izz="0.0009923960134670207"/>
    </inertial>
    <visual>
      <origin xyz="0.030411233356184383 0.029140462447480246 0.01909577433393813" rpy="-0.06688725064450136 0.24445256247619251 -1.840815419889917"/>
      <geometry>
        <mesh filename="package://iRonCub-Mk3/iRonCub/meshes/stl/sim_icub3_r_shoulder_1_prt.stl" scale="0.001 0.001 0.001"/>
      </geometry>
      <material name="gray">
        <color rgba="1 1 1 1"/>
      </material>
    </visual>
    <collision>
      <origin xyz="0.030411233356184383 0.029140462447480246 0.01909577433393813" rpy="-0.06688725064450136 0.24445256247619251 -1.840815419889917"/>
      <geometry>
        <mesh filename="package://iRonCub-Mk3/iRonCub/meshes/stl/sim_icub3_r_shoulder_1_prt.stl" scale="0.001 0.001 0.001"/>
      </geometry>
    </collision>
  </link>
  <joint name="r_shoulder_pitch" type="revolute">
    <origin xyz="-0.020835100000000002 -0.0397423 0.1052029" rpy="-0.25326164431680925 2.3014774394592079e-07 0.26179970938509745"/>
    <axis xyz="1.499044390054707e-07 0.9999999783534812 -1.2401537036188515e-07"/>
    <parent link="chest"/>
    <child link="r_shoulder_1"/>
    <limit effort="50000" lower="-3.0543261909900767" upper="0.3490658503988659" velocity="120.0"/>
    <dynamics damping="2.0" friction="0.0"/>
  </joint>
  <link name="r_shoulder_2">
    <inertial>
      <origin xyz="0.005108924921141532 -0.00021262473188488062 -0.020403359362654718" rpy="-0.12008540036084188 0.2297886675301102 -1.8533144378692001"/>
      <mass value="0.42492"/>
      <inertia ixx="0.0003829366314543841" ixy="4.8603409990214605e-05" ixz="6.290223922809094e-05" iyy="0.00031037929080854744" iyz="-7.540635367635347e-05" izz="0.0002587851085269554"/>
    </inertial>
    <visual>
      <origin xyz="0.023893259221697872 0.14064089823597106 0.01743452847998419" rpy="-0.12008540036084188 0.2297886675301102 -1.8533144378692001"/>
      <geometry>
        <mesh filename="package://iRonCub-Mk3/iRonCub/meshes/stl/sim_icub3_r_shoulder_2_prt.stl" scale="0.001 0.001 0.001"/>
      </geometry>
      <material name="green">
        <color rgba="1 1 1 1"/>
      </material>
    </visual>
    <collision>
      <origin xyz="0.023893259221697872 0.14064089823597106 0.01743452847998419" rpy="-0.12008540036084188 0.2297886675301102 -1.8533144378692001"/>
      <geometry>
        <mesh filename="package://iRonCub-Mk3/iRonCub/meshes/stl/sim_icub3_r_shoulder_2_prt.stl" scale="0.001 0.001 0.001"/>
      </geometry>
    </collision>
  </link>
  <joint name="r_shoulder_roll" type="revolute">
    <origin xyz="0.007489008185044645 -0.11150041046657977 0.00040278589669752105" rpy="0.17453306234069352 -0.05374779257913059 -6.132332688882274e-07"/>
    <axis xyz="-0.9999998262417886 4.2105014356162707e-08 2.4630481189336084e-08"/>
    <parent link="r_shoulder_1"/>
    <child link="r_shoulder_2"/>
    <limit effort="50000" lower="0.20943951023931956" upper="2.8448866807507573" velocity="120.0"/>
    <dynamics damping="2.0" friction="0.0"/>
  </joint>
  <link name="r_shoulder_3">
    <inertial>
      <origin xyz="-8.296442829115735e-05 -3.0309267538636275e-05 -0.007966520489017755" rpy="-0.12008540036084188 0.2297886675301102 -1.8533144378692001"/>
      <mass value="0.2625"/>
      <inertia ixx="7.628615554065704e-05" ixy="1.6702215931276847e-06" ixz="-1.0784251066431893e-05" iyy="7.45516013055042e-05" iyz="-5.495630207834499e-06" izz="0.00012000314956569149"/>
    </inertial>
    <visual>
      <origin xyz="0.03074320560708775 0.1406406791860105 0.07173451005787518" rpy="-0.12008540036084188 0.2297886675301102 -1.8533144378692001"/>
      <geometry>
        <mesh filename="package://iRonCub-Mk3/iRonCub/meshes/stl/sim_icub3_r_shoulder_3_prt.stl" scale="0.001 0.001 0.001"/>
      </geometry>
      <material name="black">
        <color rgba="0 0 0.8 1"/>
      </material>
    </visual>
    <collision>
      <origin xyz="0.03074320560708775 0.1406406791860105 0.07173451005787518" rpy="-0.12008540036084188 0.2297886675301102 -1.8533144378692001"/>
      <geometry>
        <mesh filename="package://iRonCub-Mk3/iRonCub/meshes/stl/sim_icub3_r_shoulder_3_prt.stl" scale="0.001 0.001 0.001"/>
      </geometry>
    </collision>
  </link>
  <joint name="r_arm_ft_sensor" type="fixed">
    <origin xyz="-0.006849946385389875 2.1904996055921444e-07 -0.054299981577890996" rpy="0 0 0"/>
    <parent link="r_shoulder_2"/>
    <child link="r_shoulder_3"/>
    <dynamics damping="0.1"/>
  </joint>
  <link name="r_upper_arm">
    <inertial>
      <origin xyz="0.00104763877624129 -0.002559626059706027 -0.05065314965013519" rpy="-0.12008540036084188 0.2297886675301102 -1.8533144378692001"/>
      <mass value="1.8703"/>
      <inertia ixx="0.0033005254762146084" ixy="-7.856912537486065e-05" ixz="0.0005314736736640653" iyy="0.003275179877659797" iyz="0.00032042055112711576" izz="0.0016353876705876744"/>
    </inertial>
    <visual>
      <origin xyz="0.030743123698670136 0.14064025735327973 0.09423445143102875" rpy="-0.12008540036084188 0.2297886675301102 -1.8533144378692001"/>
      <geometry>
        <mesh filename="package://iRonCub-Mk3/iRonCub/meshes/stl/sim_icub3_r_upperarm_prt.stl" scale="0.001 0.001 0.001"/>
      </geometry>
      <material name="red">
        <color rgba="0 0 0.8 1"/>
      </material>
    </visual>
    <collision>
      <origin xyz="0.030743123698670136 0.14064025735327973 0.09423445143102875" rpy="-0.12008540036084188 0.2297886675301102 -1.8533144378692001"/>
      <geometry>
        <mesh filename="package://iRonCub-Mk3/iRonCub/meshes/stl/sim_icub3_r_upperarm_prt.stl" scale="0.001 0.001 0.001"/>
      </geometry>
    </collision>
  </link>
  <joint name="r_shoulder_yaw" type="revolute">
    <origin xyz="0 4.2183273077367467e-07 -0.02249994137315358" rpy="0 0 0"/>
    <axis xyz="-3.787621790513063e-08 2.805197706068352e-08 1.0000002566182309"/>
    <parent link="r_shoulder_3"/>
    <child link="r_upper_arm"/>
    <limit effort="50000" lower="-0.8726646259971648" upper="1.3962634015954636" velocity="120.0"/>
    <dynamics damping="2.0" friction="0.0"/>
  </joint>
  <link name="r_elbow_1">
    <inertial>
      <origin xyz="-0.0042210586272278874 -0.00045736337500790203 -0.0010160983262984813" rpy="-0.12008540036084188 0.2297886675301102 -1.8533144378692001"/>
      <mass value="0.107261"/>
      <inertia ixx="1.40525e-05" ixy="-1.76005e-06" ixz="-3.59476e-06" iyy="2.17508e-05" iyz="-8.29645e-07" izz="2.70785e-05"/>
    </inertial>
    <visual>
      <origin xyz="0.02074319177606632 0.13914061722125232 0.21793478892057525" rpy="-0.12008540036084188 0.2297886675301102 -1.8533144378692001"/>
      <geometry>
        <mesh filename="package://iRonCub-Mk3/iRonCub/meshes/stl/sim_icub3_r_elbow_prt.stl" scale="0.001 0.001 0.001"/>
      </geometry>
      <material name="blue">
        <color rgba="1 1 1 1"/>
      </material>
    </visual>
    <collision>
      <origin xyz="0.02074319177606632 0.13914061722125232 0.21793478892057525" rpy="-0.12008540036084188 0.2297886675301102 -1.8533144378692001"/>
      <geometry>
        <mesh filename="package://iRonCub-Mk3/iRonCub/meshes/stl/sim_icub3_r_elbow_prt.stl" scale="0.001 0.001 0.001"/>
      </geometry>
    </collision>
  </link>
  <joint name="r_elbow" type="revolute">
    <origin xyz="0.009999931922603816 0.0014996401320274133 -0.1237003374895465" rpy="0 0 0"/>
    <axis xyz="2.4949582809984105e-07 -1.0000002733514362 2.7942487004772865e-08"/>
    <parent link="r_upper_arm"/>
    <child link="r_elbow_1"/>
    <limit effort="50000" lower="-0.05235987755982989" upper="1.3089969389957472" velocity="120.0"/>
    <dynamics damping="2.0" friction="0.0"/>
  </joint>
  <link name="R_FOREARM"/>
  <joint name="R_FOREARM_fixed_joint" type="fixed">
    <origin xyz="-0.01499999725199383 -0.0019999689733820603 0.0060001905432816305" rpy="1.570796451552234 -1.5707960126779352 0"/>
    <parent link="r_elbow_1"/>
    <child link="R_FOREARM"/>
    <dynamics damping="0.1"/>
  </joint>
  <link name="r_forearm">
    <inertial>
      <origin xyz="-0.13145056911634542 6.584926183615669e-05 0.023664093429151656" rpy="0.7853977427514093 -1.2085781829840494 2.2689286834936673"/>
      <mass value="0.68965"/>
      <inertia ixx="0.00090763" ixy="-0.000250774" ixz="0.000415154" iyy="0.0020634" iyz="0.000153298" izz="0.0021615"/>
    </inertial>
    <visual>
      <origin xyz="0 0 0" rpy="2.9671 0 0"/>
      <geometry>
        <mesh filename="[local-path]\Documents\GitHub\element_co-generative-cad\Mode_frontierAnalayses\jetpack_forearm_simulink_controller\jetpack_forearm_control_simulink_controller_00066\proc\00000-00999\00441\Matlab26_00000\cogen_001_p_002.prt_ascii.stl" scale="0.001 0.001 0.001"/>
      </geometry>
      <material name="yellow">
        <color rgba="0 0 0.8 1"/>
      </material>
    </visual>
    <collision>
      <origin xyz="0.21193456418652473 -0.0357431759934032 -0.14114064083593317" rpy="0.7853977427514093 -1.2085781829840494 2.2689286834936673"/>
      <geometry>
        <mesh filename="package://iRonCub-Mk3/iRonCub/meshes/stl/sim_icub3_r_elbow_prosup_prt.stl" scale="0.001 0.001 0.001"/>
      </geometry>
    </collision>
  </link>
  <joint name="r_prosup_joint" type="fixed">
    <origin xyz="-0.01499999725199383 -0.0019999689733820603 0.0060001905432816305" rpy="1.570796451552234 -1.5707960126779352 0"/>
    <parent link="r_elbow_1"/>
    <child link="r_forearm"/>
    <dynamics damping="0.1"/>
  </joint>
  <link name="r_arm_jet_turbine">
    <inertial>
      <origin xyz="7.185032821210857e-07 3.9258985742862684e-07 -0.15814251758881814" rpy="3.0215072134275287 -0.22978871932764794 0.5443178016082791"/>
      <mass value="2.155"/>
      <inertia ixx="-0.00934757" ixy="0.000261972" ixz="-0.00217099" iyy="-0.00972494" iyz="-0.00111186" izz="-0.000645129"/>
    </inertial>
    <visual>
      <origin xyz="-0.21430267906834452 -0.09434867402057348 -0.5299364637555667" rpy="3.0215072134275287 -0.22978871932764794 0.5443178016082791"/>
      <geometry>
        <mesh filename="package://iRonCub-Mk3/iRonCub/meshes/stl/sim_sea_r_arm_p250_prt.stl" scale="0.001 0.001 0.001"/>
      </geometry>
      <material name="pink">
        <color rgba="1 1 1 1"/>
      </material>
    </visual>
    <collision>
      <origin xyz="-0.21430267906834452 -0.09434867402057348 -0.5299364637555667" rpy="3.0215072134275287 -0.22978871932764794 0.5443178016082791"/>
      <geometry>
        <mesh filename="package://iRonCub-Mk3/iRonCub/meshes/stl/sim_sea_r_arm_p250_prt.stl" scale="0.001 0.001 0.001"/>
      </geometry>
    </collision>
  </link>
  <joint name="r_elbow_turbine" type="fixed">
    <origin xyz="-0.26           0       0.088" rpy="1.5708      -1.309     -1.5708"/>
    <parent link="r_forearm"/>
    <child link="r_arm_jet_turbine"/>
    <dynamics damping="0.1"/>
  </joint>
  <link name="base_link"/>
  <joint name="base_link_fixed_joint" type="fixed">
<origin xyz="0 0 0" rpy="0 -0 0"/>
<axis xyz="0 0 0"/>
<parent link="root_link"/>
<child link="base_link"/>
</joint>
  <gazebo reference="r_arm_ft_sensor">
<preserveFixedJoint>true</preserveFixedJoint>
<!-- For compatibility with SDFormat < 4.4 -->
<disableFixedJointLumping>true</disableFixedJointLumping>
</gazebo>
  <gazebo reference="r_jet_ft_sensor">
<preserveFixedJoint>true</preserveFixedJoint>
<!-- For compatibility with SDFormat < 4.4 -->
<disableFixedJointLumping>true</disableFixedJointLumping>
</gazebo>
  <gazebo reference="l_jet_ft_sensor">
<preserveFixedJoint>true</preserveFixedJoint>
<!-- For compatibility with SDFormat < 4.4 -->
<disableFixedJointLumping>true</disableFixedJointLumping>
</gazebo>
  <gazebo reference="l_arm_ft_sensor">
<preserveFixedJoint>true</preserveFixedJoint>
<!-- For compatibility with SDFormat < 4.4 -->
<disableFixedJointLumping>true</disableFixedJointLumping>
</gazebo>
  <gazebo reference="l_foot_front_ft_sensor">
<preserveFixedJoint>true</preserveFixedJoint>
<!-- For compatibility with SDFormat < 4.4 -->
<disableFixedJointLumping>true</disableFixedJointLumping>
</gazebo>
  <gazebo reference="l_foot_rear_ft_sensor">
<preserveFixedJoint>true</preserveFixedJoint>
<!-- For compatibility with SDFormat < 4.4 -->
<disableFixedJointLumping>true</disableFixedJointLumping>
</gazebo>
  <gazebo reference="l_foot_front">
  <collision> <surface> <bounce>
    <restitution_coefficient>0</restitution_coefficient>
    <threshold>100000</threshold>
  </bounce> </surface> </collision>
  <maxContacts>4</maxContacts>
  <kp>18000000</kp>
  <kd>100</kd>
  <maxVel>100</maxVel>
  <minDepth>0.0001</minDepth>
  <mu1>1</mu1>
  <mu2>1</mu2>
  <fdir1>0 0 0</fdir1>
</gazebo>
  <gazebo reference="l_foot_rear">
  <collision> <surface> <bounce>
    <restitution_coefficient>0</restitution_coefficient>
    <threshold>100000</threshold>
  </bounce> </surface> </collision>
  <maxContacts>4</maxContacts>
  <kp>18000000</kp>
  <kd>100</kd>
  <maxVel>100</maxVel>
  <minDepth>0.0001</minDepth>
  <mu1>1</mu1>
  <mu2>1</mu2>
  <fdir1>0 0 0</fdir1>
</gazebo>
  <gazebo>
  <plugin name="controlboard_left_leg" filename="libgazebo_yarp_controlboard.so">
    <yarpConfigurationFile>model://iRonCub-Mk3/iRonCub/conf/gazebo_icub_left_leg.ini</yarpConfigurationFile>
  </plugin>
</gazebo>
  <gazebo reference="l_leg_ft_sensor">
<preserveFixedJoint>true</preserveFixedJoint>
<!-- For compatibility with SDFormat < 4.4 -->
<disableFixedJointLumping>true</disableFixedJointLumping>
</gazebo>
  <gazebo reference="r_leg_ft_sensor">
<preserveFixedJoint>true</preserveFixedJoint>
<!-- For compatibility with SDFormat < 4.4 -->
<disableFixedJointLumping>true</disableFixedJointLumping>
</gazebo>
  <gazebo reference="r_foot_front_ft_sensor">
<preserveFixedJoint>true</preserveFixedJoint>
<!-- For compatibility with SDFormat < 4.4 -->
<disableFixedJointLumping>true</disableFixedJointLumping>
</gazebo>
  <gazebo reference="r_foot_rear_ft_sensor">
<preserveFixedJoint>true</preserveFixedJoint>
<!-- For compatibility with SDFormat < 4.4 -->
<disableFixedJointLumping>true</disableFixedJointLumping>
</gazebo>
  <gazebo reference="r_foot_front">
  <collision> <surface> <bounce>
    <restitution_coefficient>0</restitution_coefficient>
    <threshold>100000</threshold>
  </bounce> </surface> </collision>
  <maxContacts>4</maxContacts>
  <kp>18000000</kp>
  <kd>100</kd>
  <maxVel>100</maxVel>
  <minDepth>0.0001</minDepth>
  <mu1>1</mu1>
  <mu2>1</mu2>
  <fdir1>0 0 0</fdir1>
</gazebo>
  <gazebo reference="r_foot_rear">
  <collision> <surface> <bounce>
    <restitution_coefficient>0</restitution_coefficient>
    <threshold>100000</threshold>
  </bounce> </surface> </collision>
  <maxContacts>4</maxContacts>
  <kp>18000000</kp>
  <kd>100</kd>
  <maxVel>100</maxVel>
  <minDepth>0.0001</minDepth>
  <mu1>1</mu1>
  <mu2>1</mu2>
  <fdir1>0 0 0</fdir1>
</gazebo>
  <gazebo reference="r_hip_pitch">
    <implicitSpringDamper>1</implicitSpringDamper>
</gazebo>
  <gazebo reference="r_hip_roll">
    <implicitSpringDamper>1</implicitSpringDamper>
</gazebo>
  <gazebo reference="r_hip_yaw">
    <implicitSpringDamper>1</implicitSpringDamper>
</gazebo>
  <gazebo reference="r_knee">
    <implicitSpringDamper>1</implicitSpringDamper>
</gazebo>
  <gazebo reference="r_ankle_pitch">
    <implicitSpringDamper>1</implicitSpringDamper>
</gazebo>
  <gazebo reference="r_ankle_roll">
    <implicitSpringDamper>1</implicitSpringDamper>
</gazebo>
  <gazebo reference="l_hip_pitch">
    <implicitSpringDamper>1</implicitSpringDamper>
</gazebo>
  <gazebo reference="l_hip_roll">
    <implicitSpringDamper>1</implicitSpringDamper>
</gazebo>
  <gazebo reference="l_hip_yaw">
    <implicitSpringDamper>1</implicitSpringDamper>
</gazebo>
  <gazebo reference="l_knee">
    <implicitSpringDamper>1</implicitSpringDamper>
</gazebo>
  <gazebo reference="l_ankle_pitch">
    <implicitSpringDamper>1</implicitSpringDamper>
</gazebo>
  <gazebo reference="l_ankle_roll">
    <implicitSpringDamper>1</implicitSpringDamper>
</gazebo>
  <gazebo reference="torso_pitch">
    <implicitSpringDamper>1</implicitSpringDamper>
</gazebo>
  <gazebo reference="torso_roll">
    <implicitSpringDamper>1</implicitSpringDamper>
</gazebo>
  <gazebo reference="torso_yaw">
    <implicitSpringDamper>1</implicitSpringDamper>
</gazebo>
  <gazebo reference="r_shoulder_pitch">
    <implicitSpringDamper>1</implicitSpringDamper>
</gazebo>
  <gazebo reference="r_shoulder_roll">
    <implicitSpringDamper>1</implicitSpringDamper>
</gazebo>
  <gazebo reference="r_shoulder_yaw">
    <implicitSpringDamper>1</implicitSpringDamper>
</gazebo>
  <gazebo reference="l_shoulder_pitch">
    <implicitSpringDamper>1</implicitSpringDamper>
</gazebo>
  <gazebo reference="l_shoulder_roll">
    <implicitSpringDamper>1</implicitSpringDamper>
</gazebo>
  <gazebo reference="l_shoulder_yaw">
    <implicitSpringDamper>1</implicitSpringDamper>
</gazebo>
  <gazebo reference="l_elbow_turbine">
<disableFixedJointLumping>true</disableFixedJointLumping>
</gazebo>
  <gazebo reference="jetpack">
<disableFixedJointLumping>true</disableFixedJointLumping>
</gazebo>
  <gazebo reference="r_elbow_turbine">
<disableFixedJointLumping>true</disableFixedJointLumping>
</gazebo>
  <gazebo reference="neck_pitch">
<implicitSpringDamper>1</implicitSpringDamper>
</gazebo>
  <gazebo reference="neck_roll">
    <implicitSpringDamper>1</implicitSpringDamper>
</gazebo>
  <gazebo reference="neck_yaw">
    <implicitSpringDamper>1</implicitSpringDamper>
</gazebo>
  <gazebo reference="l_shoulder_pitch">
  <implicitSpringDamper>1</implicitSpringDamper>
</gazebo>
  <gazebo reference="l_shoulder_roll">
  <implicitSpringDamper>1</implicitSpringDamper>
</gazebo>
  <gazebo reference="l_shoulder_yaw">
  <implicitSpringDamper>1</implicitSpringDamper>
</gazebo>
  <gazebo reference="l_elbow">
  <implicitSpringDamper>1</implicitSpringDamper>
</gazebo>
  <gazebo reference="r_shoulder_pitch">
  <implicitSpringDamper>1</implicitSpringDamper>
</gazebo>
  <gazebo reference="r_shoulder_roll">
  <implicitSpringDamper>1</implicitSpringDamper>
</gazebo>
  <gazebo reference="r_shoulder_yaw">
  <implicitSpringDamper>1</implicitSpringDamper>
</gazebo>
  <gazebo reference="r_elbow">
  <implicitSpringDamper>1</implicitSpringDamper>
</gazebo>
  <gazebo>
<plugin name="controlboard_right_arm_no_hand" filename="libgazebo_yarp_controlboard.so">
  <yarpConfigurationFile>model://iRonCub-Mk3/iRonCub/conf/gazebo_icub_right_arm_no_hand_for_no_hand_model.ini</yarpConfigurationFile>
  <initialConfiguration>-0.52 0.52 0 0.785 0 0 0.0</initialConfiguration>
</plugin>
<plugin name="controlboard_left_arm_no_hand" filename="libgazebo_yarp_controlboard.so">
  <yarpConfigurationFile>model://iRonCub-Mk3/iRonCub/conf/gazebo_icub_left_arm_no_hand_for_no_hand_model.ini</yarpConfigurationFile>
  <initialConfiguration>-0.52 0.52 0 0.785 0 0 0.0</initialConfiguration>
</plugin>
<plugin name="controlboard_right_leg" filename="libgazebo_yarp_controlboard.so">
  <yarpConfigurationFile>model://iRonCub-Mk3/iRonCub/conf/gazebo_icub_right_leg.ini</yarpConfigurationFile>
</plugin>
<plugin name="controlboard_torso" filename="libgazebo_yarp_controlboard.so">
  <yarpConfigurationFile>model://iRonCub-Mk3/iRonCub/conf/gazebo_icub_torso.ini</yarpConfigurationFile>
</plugin>
<plugin name="controlboard_head_without_eyes" filename="libgazebo_yarp_controlboard.so">
  <yarpConfigurationFile>model://iRonCub-Mk3/iRonCub/conf/gazebo_icub_head_without_eyes_V2_7.ini</yarpConfigurationFile>
</plugin>
<plugin name="jets-plugin" filename="libjets-plugin.so">
  <yarpConfigurationFile>model://iRonCub-Mk3/iRonCub/conf/jets.ini</yarpConfigurationFile>
</plugin>
<plugin name="basestate" filename="libgazebo_yarp_basestate.so">
    <yarpConfigurationFile>model://iRonCub-Mk3/iRonCub/conf/base.ini</yarpConfigurationFile>
</plugin>
<plugin name="robotinterface" filename="libgazebo_yarp_robotinterface.so">
  <yarpRobotInterfaceConfigurationFile>model://iRonCub-Mk3/iRonCub/conf/iRonCub.xml</yarpRobotInterfaceConfigurationFile>
</plugin>
</gazebo>
  <gazebo reference="l_foot_rear">
    <visual>
      <material>
        <ambient>0.55 0.55 0.55 1.0</ambient>
        <diffuse>1.0 1.0 1.0 1.0</diffuse>
        <specular>0.6 0.6 0.6 1.0</specular>
      </material>
    </visual>
  </gazebo>
  <gazebo reference="l_foot_front">
    <visual>
      <material>
        <ambient>0.55 0.55 0.55 1.0</ambient>
        <diffuse>1.0 1.0 1.0 1.0</diffuse>
        <specular>0.6 0.6 0.6 1.0</specular>
      </material>
    </visual>
  </gazebo>
  <gazebo reference="r_foot_front">
    <visual>
      <material>
        <ambient>0.55 0.55 0.55 1.0</ambient>
        <diffuse>1.0 1.0 1.0 1.0</diffuse>
        <specular>0.6 0.6 0.6 1.0</specular>
      </material>
    </visual>
  </gazebo>
  <gazebo reference="r_foot_rear">
    <visual>
      <material>
        <ambient>0.55 0.55 0.55 1.0</ambient>
        <diffuse>1.0 1.0 1.0 1.0</diffuse>
        <specular>0.6 0.6 0.6 1.0</specular>
      </material>
    </visual>
  </gazebo>
  <gazebo reference="chest">
    <visual>
      <material>
        <ambient>0.18823499999999999 0.18823499999999999 0.18823499999999999 1.0</ambient>
        <diffuse>0.2823525 0.2823525 0.2823525 1.0</diffuse>
        <specular>0.18823499999999999 0.18823499999999999 0.18823499999999999 1.0</specular>
      </material>
    </visual>
  </gazebo>
  <gazebo reference="l_arm_ft_sensor">
    <sensor name="l_arm_ft" type="force_torque">
      <always_on>1</always_on>
      <update_rate>100</update_rate>
      <force_torque>
        <frame>child</frame>
        <measure_direction>child_to_parent</measure_direction>
      </force_torque>
      <plugin name="left_arm_ft_plugin" filename="libgazebo_yarp_forcetorque.so">
  <yarpConfigurationFile>model://iRonCub-Mk3/iRonCub/conf/FT/gazebo_icub_left_arm_ft.ini</yarpConfigurationFile>
</plugin>
    </sensor>
  </gazebo>
  <sensor name="l_arm_ft" type="force_torque">
    <parent joint="l_arm_ft_sensor"/>
    <force_torque>
      <frame>child</frame>
      <measure_direction>child_to_parent</measure_direction>
    </force_torque>
  </sensor>
  <gazebo reference="r_arm_ft_sensor">
    <sensor name="r_arm_ft" type="force_torque">
      <always_on>1</always_on>
      <update_rate>100</update_rate>
      <force_torque>
        <frame>child</frame>
        <measure_direction>child_to_parent</measure_direction>
      </force_torque>
      <plugin name="right_arm_ft_plugin" filename="libgazebo_yarp_forcetorque.so">
  <yarpConfigurationFile>model://iRonCub-Mk3/iRonCub/conf/FT/gazebo_icub_right_arm_ft.ini</yarpConfigurationFile>
</plugin>
    </sensor>
  </gazebo>
  <sensor name="r_arm_ft" type="force_torque">
    <parent joint="r_arm_ft_sensor"/>
    <force_torque>
      <frame>child</frame>
      <measure_direction>child_to_parent</measure_direction>
    </force_torque>
  </sensor>
  <gazebo reference="l_foot_front_ft_sensor">
    <sensor name="l_foot_front_ft" type="force_torque">
      <always_on>1</always_on>
      <update_rate>100</update_rate>
      <force_torque>
        <frame>child</frame>
        <measure_direction>child_to_parent</measure_direction>
      </force_torque>
      <plugin name="left_foot_front_ft_plugin" filename="libgazebo_yarp_forcetorque.so">
  <yarpConfigurationFile>model://iRonCub-Mk3/iRonCub/conf/FT/gazebo_icub_left_foot_front_ft.ini</yarpConfigurationFile>
</plugin>
    </sensor>
  </gazebo>
  <sensor name="l_foot_front_ft" type="force_torque">
    <parent joint="l_foot_front_ft_sensor"/>
    <force_torque>
      <frame>child</frame>
      <measure_direction>child_to_parent</measure_direction>
    </force_torque>
  </sensor>
  <gazebo reference="l_foot_rear_ft_sensor">
    <sensor name="l_foot_rear_ft" type="force_torque">
      <always_on>1</always_on>
      <update_rate>100</update_rate>
      <force_torque>
        <frame>child</frame>
        <measure_direction>child_to_parent</measure_direction>
      </force_torque>
      <plugin name="left_foot_rear_ft_plugin" filename="libgazebo_yarp_forcetorque.so">
  <yarpConfigurationFile>model://iRonCub-Mk3/iRonCub/conf/FT/gazebo_icub_left_foot_rear_ft.ini</yarpConfigurationFile>
</plugin>
    </sensor>
  </gazebo>
  <sensor name="l_foot_rear_ft" type="force_torque">
    <parent joint="l_foot_rear_ft_sensor"/>
    <force_torque>
      <frame>child</frame>
      <measure_direction>child_to_parent</measure_direction>
    </force_torque>
  </sensor>
  <gazebo reference="r_foot_front_ft_sensor">
    <sensor name="r_foot_front_ft" type="force_torque">
      <always_on>1</always_on>
      <update_rate>100</update_rate>
      <force_torque>
        <frame>child</frame>
        <measure_direction>child_to_parent</measure_direction>
      </force_torque>
      <plugin name="right_foot_front_ft_sensor_plugin" filename="libgazebo_yarp_forcetorque.so">
  <yarpConfigurationFile>model://iRonCub-Mk3/iRonCub/conf/FT/gazebo_icub_right_foot_front_ft.ini</yarpConfigurationFile>
</plugin>
    </sensor>
  </gazebo>
  <sensor name="r_foot_front_ft" type="force_torque">
    <parent joint="r_foot_front_ft_sensor"/>
    <force_torque>
      <frame>child</frame>
      <measure_direction>child_to_parent</measure_direction>
    </force_torque>
  </sensor>
  <gazebo reference="r_foot_rear_ft_sensor">
    <sensor name="r_foot_rear_ft" type="force_torque">
      <always_on>1</always_on>
      <update_rate>100</update_rate>
      <force_torque>
        <frame>child</frame>
        <measure_direction>child_to_parent</measure_direction>
      </force_torque>
      <plugin name="right_foot_rear_ft_sensor_plugin" filename="libgazebo_yarp_forcetorque.so">
  <yarpConfigurationFile>model://iRonCub-Mk3/iRonCub/conf/FT/gazebo_icub_right_foot_rear_ft.ini</yarpConfigurationFile>
</plugin>
    </sensor>
  </gazebo>
  <sensor name="r_foot_rear_ft" type="force_torque">
    <parent joint="r_foot_rear_ft_sensor"/>
    <force_torque>
      <frame>child</frame>
      <measure_direction>child_to_parent</measure_direction>
    </force_torque>
  </sensor>
  <gazebo reference="head">
    <sensor name="head_imu" type="imu">
      <always_on>1</always_on>
      <update_rate>100</update_rate>
      <pose>0.0035000000000000005 0.0055 0.10133400000000001 3.141592653589793 -0.0 -1.5707963267948966</pose>
      <plugin name="iCub_yarp_gazebo_plugin_IMU" filename="libgazebo_yarp_imu.so">
    <yarpConfigurationFile>model://iRonCub-Mk3/iRonCub/conf/gazebo_icub_inertial.ini</yarpConfigurationFile>
</plugin>
    </sensor>
  </gazebo>
  <sensor name="head_imu" type="accelerometer">
    <parent link="head"/>
    <origin rpy="3.141592653589793 -0.0 -1.5707963267948966" xyz="0.0035000000000000005 0.0055 0.10133400000000001"/>
  </sensor>
  <gazebo reference="chest">
    <sensor name="chest_imu" type="imu">
      <always_on>1</always_on>
      <update_rate>100</update_rate>
      <pose>0.100121 0.0076 0.0816279 -3.141592653589793 -1.5707963267948966 0.0</pose>
      <plugin name="chest_plugin_IMU" filename="libgazebo_yarp_imu.so">
    <yarpConfigurationFile>model://iRonCub-Mk3/iRonCub/conf/gazebo_icub_xsens_inertial.ini</yarpConfigurationFile>
</plugin>
    </sensor>
  </gazebo>
  <sensor name="chest_imu" type="accelerometer">
    <parent link="chest"/>
    <origin rpy="-3.141592653589793 -1.5707963267948966 0.0" xyz="0.100121 0.0076 0.0816279"/>
  </sensor>
  <gazebo>
    <pose>0.0 0.0 0.64 0.0 0.0 0.0</pose>
  </gazebo>
</robot>
